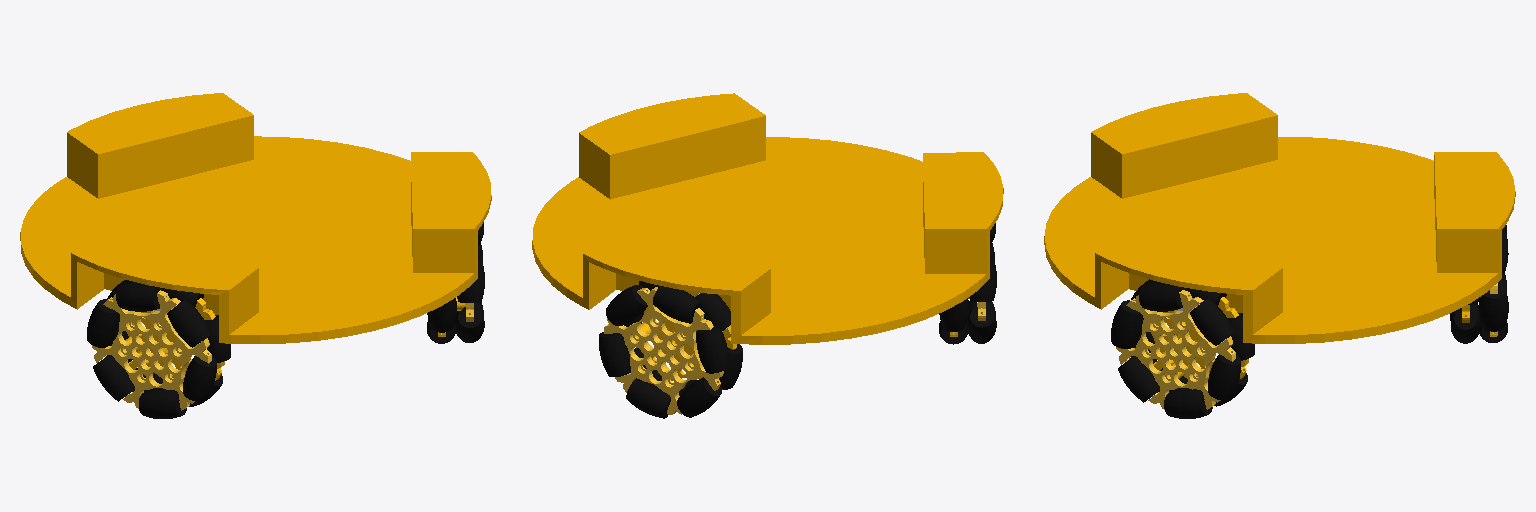
--- Render facts (derived) ---
3 views of the same robot in one strip: view 1: azimuth 30°, elevation 25°; view 2: azimuth 150°, elevation 25°; view 3: azimuth 270°, elevation 25° (orthographic).
Model omnibot with 43 links and 42 joints (39 revolute, 3 fixed), rooted at base, posed all joints at 0.
Links seen in each view (by area): view 1: base, wheel_3, roller_32, roller_29, roller_33, roller_35, roller_34, roller_31, roller_3, roller_4, roller_36, roller_5; view 2: base, wheel_2, roller_23, roller_22, roller_17, roller_19, roller_21, roller_24, roller_13, roller_34, roller_26, roller_15 (+1 smaller); view 3: base, wheel, roller_8, roller_11, roller_12, roller_5, roller_3, roller_7, roller_19, roller_18, roller_10.
Boxes of the visible links, left/top/right/bottom form: base: left=20, top=93, right=491, bottom=343; wheel_3: left=92, top=290, right=224, bottom=410; roller_32: left=167, top=299, right=210, bottom=347; roller_29: left=183, top=356, right=216, bottom=401; roller_33: left=139, top=389, right=186, bottom=418; roller_35: left=87, top=299, right=119, bottom=347; roller_34: left=93, top=355, right=134, bottom=401; roller_31: left=116, top=282, right=164, bottom=311; roller_3: left=455, top=307, right=484, bottom=342; roller_4: left=427, top=298, right=456, bottom=332; roller_36: left=200, top=315, right=230, bottom=362; roller_5: left=457, top=257, right=484, bottom=302; base: left=532, top=93, right=1003, bottom=344; wheel_2: left=604, top=287, right=736, bottom=414; roller_23: left=696, top=325, right=728, bottom=373; roller_22: left=653, top=286, right=701, bottom=323; roller_17: left=626, top=379, right=670, bottom=418; roller_19: left=599, top=332, right=630, bottom=376; roller_21: left=606, top=285, right=647, bottom=325; roller_24: left=677, top=377, right=721, bottom=417; roller_13: left=695, top=293, right=730, bottom=330; roller_34: left=967, top=307, right=996, bottom=343; roller_26: left=939, top=298, right=968, bottom=331; roller_15: left=719, top=344, right=742, bottom=389; base: left=1044, top=93, right=1515, bottom=343; wheel: left=1116, top=290, right=1248, bottom=409; roller_8: left=1190, top=298, right=1233, bottom=345; roller_11: left=1208, top=354, right=1240, bottom=399; roller_12: left=1164, top=389, right=1212, bottom=418; roller_5: left=1111, top=300, right=1143, bottom=348; roller_3: left=1118, top=356, right=1159, bottom=402; roller_7: left=1139, top=282, right=1186, bottom=311; roller_19: left=1479, top=284, right=1508, bottom=331; roller_18: left=1451, top=308, right=1480, bottom=343; roller_10: left=1228, top=313, right=1254, bottom=360.
Bounding box of the posed robot: 0.2395 × 0.24 × 0.0824 m (x, y, z).
88 mesh visuals loaded from 7 distinct referenced files (7 binary STL).

The robot description file, URDF, robot "omnibot":
<robot name="omnibot">
    <link name="base">
        <visual>
            <origin xyz="0 0 0" rpy="0 -0 0" />
            <geometry>
                <mesh filename="package://omnibot_description/urdf/base.stl"/>
            </geometry>
            <material name="base_material">
                <color rgba="0.98039215686274505668 0.71372549019607844922 0.0039215686274509803377 1.0"/>
            </material>
        </visual>
        <collision>
            <origin xyz="0 0 0" rpy="0 -0 0" />
            <geometry>
                <mesh filename="package://omnibot_description/urdf/base.stl"/>
            </geometry>
        </collision>
        <inertial>
            <origin xyz="5.7125161491566575863e-17 -6.5024821714209305867e-17 0.0080527486487109532082" rpy="0 0 0"/>
            <mass value="0.33121488483749478293" />
            <inertia ixx="0.0012461406422939467261" ixy="0"  ixz="0" iyy="0.0012461406422939458587" iyz="0" izz="0.0024316574431770781976" />
        </inertial>
    </link>

    <link name="motor">
        <visual>
            <origin xyz="7.9043193428368358577e-18 0.015229328657860308205 -0.057370000000000025142" rpy="1.1520632371359762718e-32 2.2226360665914211532e-18 -4.9713570571472892865e-32" />
            <geometry>
                <mesh filename="package://omnibot_description/urdf/part_1.stl"/>
            </geometry>
            <material name="part_1_material">
                <color rgba="0.90196078431372550543 0.91764705882352937127 0.92941176470588238168 1.0"/>
            </material>
        </visual>
        <collision>
            <origin xyz="7.9043193428368358577e-18 0.015229328657860308205 -0.057370000000000025142" rpy="1.1520632371359762718e-32 2.2226360665914211532e-18 -4.9713570571472892865e-32" />
            <geometry>
                <mesh filename="package://omnibot_description/urdf/part_1.stl"/>
            </geometry>
        </collision>
        <inertial>
            <origin xyz="-2.098830552812477813e-06 0.015050377580170262726 -0.02165928006021894392" rpy="0 0 0"/>
            <mass value="0.1286049482749511419" />
            <inertia ixx="4.6506247208995554765e-05" ixy="1.6921131916578413861e-09"  ixz="-3.4608427741392948627e-09" iyy="4.6246527094885937542e-05" iyz="1.0074294037198131716e-06" izz="1.0661244977444005866e-05" />
        </inertial>
    </link>

    <link name="wheel">
        <visual>
            <origin xyz="0.018849292529230034926 -0.025304642924402168114 -0.024199999508976458018" rpy="3.141592653589793116 -4.7644572900755180601e-17 1.8430678811938725481" />
            <geometry>
                <mesh filename="package://omnibot_description/urdf/axys_rod.stl"/>
            </geometry>
            <material name="axys_rod_material">
                <color rgba="0.61568627450980395466 0.81176470588235294379 0.92941176470588238168 1.0"/>
            </material>
        </visual>
        <collision>
            <origin xyz="0.018849292529230034926 -0.025304642924402168114 -0.024199999508976458018" rpy="3.141592653589793116 -4.7644572900755180601e-17 1.8430678811938725481" />
            <geometry>
                <mesh filename="package://omnibot_description/urdf/axys_rod.stl"/>
            </geometry>
        </collision>
        <visual>
            <origin xyz="-0.0029828434134273208028 0.031522754648300330138 -0.00999999706275848943" rpy="2.4614437732346262287e-17 2.1952416273112084314e-17 1.2985250346548160572" />
            <geometry>
                <mesh filename="package://omnibot_description/urdf/axys_rod.stl"/>
            </geometry>
            <material name="axys_rod_material">
                <color rgba="0.61568627450980395466 0.81176470588235294379 0.92941176470588238168 1.0"/>
            </material>
        </visual>
        <collision>
            <origin xyz="-0.0029828434134273208028 0.031522754648300330138 -0.00999999706275848943" rpy="2.4614437732346262287e-17 2.1952416273112084314e-17 1.2985250346548160572" />
            <geometry>
                <mesh filename="package://omnibot_description/urdf/axys_rod.stl"/>
            </geometry>
        </collision>
        <visual>
            <origin xyz="-0.019217739019543406132 -0.025322796751039058916 -0.010000003715208136135" rpy="2.4614437732346262287e-17 2.1952416273112084314e-17 1.2985250346548160572" />
            <geometry>
                <mesh filename="package://omnibot_description/urdf/axys_rod.stl"/>
            </geometry>
            <material name="axys_rod_material">
                <color rgba="0.61568627450980395466 0.81176470588235294379 0.92941176470588238168 1.0"/>
            </material>
        </visual>
        <collision>
            <origin xyz="-0.019217739019543406132 -0.025322796751039058916 -0.010000003715208136135" rpy="2.4614437732346262287e-17 2.1952416273112084314e-17 1.2985250346548160572" />
            <geometry>
                <mesh filename="package://omnibot_description/urdf/axys_rod.stl"/>
            </geometry>
        </collision>
        <visual>
            <origin xyz="-0.025693795923572966544 -0.018315214244011321365 -0.010000001453652943018" rpy="-3.141592653589793116 -1.3043559180657304432e-17 0.25132812119095515602" />
            <geometry>
                <mesh filename="package://omnibot_description/urdf/axys_rod.stl"/>
            </geometry>
            <material name="axys_rod_material">
                <color rgba="0.61568627450980395466 0.81176470588235294379 0.92941176470588238168 1.0"/>
            </material>
        </visual>
        <collision>
            <origin xyz="-0.025693795923572966544 -0.018315214244011321365 -0.010000001453652943018" rpy="-3.141592653589793116 -1.3043559180657304432e-17 0.25132812119095515602" />
            <geometry>
                <mesh filename="package://omnibot_description/urdf/axys_rod.stl"/>
            </geometry>
        </collision>
        <visual>
            <origin xyz="0.028708342606700746474 0.01309387383940342417 -0.024199995144404365388" rpy="3.141592653589793116 -1.3122498566019725294e-16 0.79586976703605860628" />
            <geometry>
                <mesh filename="package://omnibot_description/urdf/axys_rod.stl"/>
            </geometry>
            <material name="axys_rod_material">
                <color rgba="0.61568627450980395466 0.81176470588235294379 0.92941176470588238168 1.0"/>
            </material>
        </visual>
        <collision>
            <origin xyz="0.028708342606700746474 0.01309387383940342417 -0.024199995144404365388" rpy="3.141592653589793116 -1.3122498566019725294e-16 0.79586976703605860628" />
            <geometry>
                <mesh filename="package://omnibot_description/urdf/axys_rod.stl"/>
            </geometry>
        </collision>
        <visual>
            <origin xyz="0.025693839153634077249 -0.01831520409297256527 -0.024199999328582064151" rpy="3.141592653589793116 2.1897413049154641094e-17 -0.25132764401668117316" />
            <geometry>
                <mesh filename="package://omnibot_description/urdf/axys_rod.stl"/>
            </geometry>
            <material name="axys_rod_material">
                <color rgba="0.61568627450980395466 0.81176470588235294379 0.92941176470588238168 1.0"/>
            </material>
        </visual>
        <collision>
            <origin xyz="0.025693839153634077249 -0.01831520409297256527 -0.024199999328582064151" rpy="3.141592653589793116 2.1897413049154641094e-17 -0.25132764401668117316" />
            <geometry>
                <mesh filename="package://omnibot_description/urdf/axys_rod.stl"/>
            </geometry>
        </collision>
        <visual>
            <origin xyz="-1.9642151932730556041e-09 -1.7891382439102956554e-10 -0.022199999809268053386" rpy="-3.141592653589793116 -7.2197123923000667429e-17 1.0471975511965978534" />
            <geometry>
                <mesh filename="package://omnibot_description/urdf/plate2.stl"/>
            </geometry>
            <material name="plate2_material">
                <color rgba="0.98039215686274505668 0.79607843137254896693 0.26274509803921569651 1.0"/>
            </material>
        </visual>
        <!-- Shapes for plate2 -->
        <collision>
            <origin xyz="-1.9642151932730556041e-09 -1.7891382428589131662e-10 -0.024199999809268051693" rpy="-3.141592653589793116 -7.2197123923000667429e-17 1.0471975511965978534" />
            <geometry>
                <cylinder length="0.0030000000000000000625" radius="0.034000000000000002442" />
            </geometry>
        </collision>
        <visual>
            <origin xyz="0.015937773618267953024 0.0042705139175610584701 -0.012000000000003036016" rpy="-3.141592653589793116 1.6962974652580569478e-28 -2.3422611302673121514e-32" />
            <geometry>
                <mesh filename="package://omnibot_description/urdf/spacer.stl"/>
            </geometry>
            <material name="spacer_material">
                <color rgba="1 0.7568627450980391913 0.054901960784313724728 1.0"/>
            </material>
        </visual>
        <collision>
            <origin xyz="0.015937773618267953024 0.0042705139175610584701 -0.012000000000003036016" rpy="-3.141592653589793116 1.6962974652580569478e-28 -2.3422611302673121514e-32" />
            <geometry>
                <mesh filename="package://omnibot_description/urdf/spacer.stl"/>
            </geometry>
        </collision>
        <visual>
            <origin xyz="2.001760042447120469e-11 -1.9338654079413060799e-11 -0.012000000000003147038" rpy="1.9022338643349641804e-17 1.6962974652580569478e-28 -2.3422611302673121514e-32" />
            <geometry>
                <mesh filename="package://omnibot_description/urdf/plate1.stl"/>
            </geometry>
            <material name="plate1_material">
                <color rgba="1 0.7568627450980391913 0.054901960784313724728 1.0"/>
            </material>
        </visual>
        <!-- Shapes for plate1 -->
        <collision>
            <origin xyz="2.001760042447120469e-11 -1.9338654184551312951e-11 -0.010000000000003146997" rpy="1.9022338643349641804e-17 1.6962974652580569478e-28 -2.3422611302673121514e-32" />
            <geometry>
                <cylinder length="0.0030000000000000000625" radius="0.034000000000000002442" />
            </geometry>
        </collision>
        <visual>
            <origin xyz="-0.028790909644556491459 0.013178153068647131124 -0.01000000062226605313" rpy="-3.141592653589793116 7.5788537773920091237e-17 -0.79586931499755342312" />
            <geometry>
                <mesh filename="package://omnibot_description/urdf/axys_rod.stl"/>
            </geometry>
            <material name="axys_rod_material">
                <color rgba="0.61568627450980395466 0.81176470588235294379 0.92941176470588238168 1.0"/>
            </material>
        </visual>
        <collision>
            <origin xyz="-0.028790909644556491459 0.013178153068647131124 -0.01000000062226605313" rpy="-3.141592653589793116 7.5788537773920091237e-17 -0.79586931499755342312" />
            <geometry>
                <mesh filename="package://omnibot_description/urdf/axys_rod.stl"/>
            </geometry>
        </collision>
        <visual>
            <origin xyz="0.02580811602108519856 0.018344566682607629793 -0.010000000481623277926" rpy="3.5691146390301812134e-17 -1.2715429987453172065e-17 0.25132812119095515602" />
            <geometry>
                <mesh filename="package://omnibot_description/urdf/axys_rod.stl"/>
            </geometry>
            <material name="axys_rod_material">
                <color rgba="0.61568627450980395466 0.81176470588235294379 0.92941176470588238168 1.0"/>
            </material>
        </visual>
        <collision>
            <origin xyz="0.02580811602108519856 0.018344566682607629793 -0.010000000481623277926" rpy="3.5691146390301812134e-17 -1.2715429987453172065e-17 0.25132812119095515602" />
            <geometry>
                <mesh filename="package://omnibot_description/urdf/axys_rod.stl"/>
            </geometry>
        </collision>
        <visual>
            <origin xyz="-0.025693825391882991332 0.018315274927571172092 -0.024199999573447886214" rpy="-2.849706463173791796e-17 2.2225542242358670231e-17 -0.25132764401668117316" />
            <geometry>
                <mesh filename="package://omnibot_description/urdf/axys_rod.stl"/>
            </geometry>
            <material name="axys_rod_material">
                <color rgba="0.61568627450980395466 0.81176470588235294379 0.92941176470588238168 1.0"/>
            </material>
        </visual>
        <collision>
            <origin xyz="-0.025693825391882991332 0.018315274927571172092 -0.024199999573447886214" rpy="-2.849706463173791796e-17 2.2225542242358670231e-17 -0.25132764401668117316" />
            <geometry>
                <mesh filename="package://omnibot_description/urdf/axys_rod.stl"/>
            </geometry>
        </collision>
        <visual>
            <origin xyz="-0.015937773364185364722 -0.0042705132347586136771 -0.012000000000003202549" rpy="-3.141592653589793116 1.6962974652580569478e-28 -2.3422611302673121514e-32" />
            <geometry>
                <mesh filename="package://omnibot_description/urdf/spacer.stl"/>
            </geometry>
            <material name="spacer_material">
                <color rgba="1 0.7568627450980391913 0.054901960784313724728 1.0"/>
            </material>
        </visual>
        <collision>
            <origin xyz="-0.015937773364185364722 -0.0042705132347586136771 -0.012000000000003202549" rpy="-3.141592653589793116 1.6962974652580569478e-28 -2.3422611302673121514e-32" />
            <geometry>
                <mesh filename="package://omnibot_description/urdf/spacer.stl"/>
            </geometry>
        </collision>
        <visual>
            <origin xyz="0.028790823204502383886 -0.013178235601432183519 -0.010000000285351320906" rpy="5.4374863009449955638e-17 7.5788537773920091237e-17 -0.79586931499755342312" />
            <geometry>
                <mesh filename="package://omnibot_description/urdf/axys_rod.stl"/>
            </geometry>
            <material name="axys_rod_material">
                <color rgba="0.61568627450980395466 0.81176470588235294379 0.92941176470588238168 1.0"/>
            </material>
        </visual>
        <collision>
            <origin xyz="0.028790823204502383886 -0.013178235601432183519 -0.010000000285351320906" rpy="5.4374863009449955638e-17 7.5788537773920091237e-17 -0.79586931499755342312" />
            <geometry>
                <mesh filename="package://omnibot_description/urdf/axys_rod.stl"/>
            </geometry>
        </collision>
        <visual>
            <origin xyz="0.0030145071180058581606 0.031409130275868703264 -0.024199999101464725326" rpy="3.141592653589793116 -4.8957089673571784025e-17 1.843067881193871882" />
            <geometry>
                <mesh filename="package://omnibot_description/urdf/axys_rod.stl"/>
            </geometry>
            <material name="axys_rod_material">
                <color rgba="0.61568627450980395466 0.81176470588235294379 0.92941176470588238168 1.0"/>
            </material>
        </visual>
        <collision>
            <origin xyz="0.0030145071180058581606 0.031409130275868703264 -0.024199999101464725326" rpy="3.141592653589793116 -4.8957089673571784025e-17 1.843067881193871882" />
            <geometry>
                <mesh filename="package://omnibot_description/urdf/axys_rod.stl"/>
            </geometry>
        </collision>
        <visual>
            <origin xyz="-0.028708344080531279785 -0.013093882512642342902 -0.02419999841828643361" rpy="-9.6174079307260302496e-17 -1.3122498566019725294e-16 0.79586976703605860628" />
            <geometry>
                <mesh filename="package://omnibot_description/urdf/axys_rod.stl"/>
            </geometry>
            <material name="axys_rod_material">
                <color rgba="0.61568627450980395466 0.81176470588235294379 0.92941176470588238168 1.0"/>
            </material>
        </visual>
        <collision>
            <origin xyz="-0.028708344080531279785 -0.013093882512642342902 -0.02419999841828643361" rpy="-9.6174079307260302496e-17 -1.3122498566019725294e-16 0.79586976703605860628" />
            <geometry>
                <mesh filename="package://omnibot_description/urdf/axys_rod.stl"/>
            </geometry>
        </collision>
        <inertial>
            <origin xyz="-9.4588917160583760242e-06 -8.8415141495200006669e-06 -0.015131125342708530435" rpy="0 0 0"/>
            <mass value="0.019223052335254620093" />
            <inertia ixx="5.399262953463332839e-06" ixy="-7.3246329002135788826e-08"  ixz="-1.2642889979755781e-09" iyy="5.6557979176500377362e-06" iyz="1.9098649289524068763e-09" izz="8.6846392930505500327e-06" />
        </inertial>
    </link>

    <link name="roller">
        <visual>
            <origin xyz="1.3877787807814456755e-17 1.3877787807814456755e-17 1.7347234759768070944e-18" rpy="8.4604260194624822847e-17 -1.8219368201364345511e-17 1.6366358251416698839e-17" />
            <geometry>
                <mesh filename="package://omnibot_description/urdf/roller.stl"/>
            </geometry>
            <material name="roller_material">
                <color rgba="0.098039215686274508443 0.098039215686274508443 0.098039215686274508443 1.0"/>
            </material>
        </visual>
        <!-- Shapes for roller -->
        <collision>
            <origin xyz="1.3877787807814456755e-17 1.3877787807814456755e-17 1.7347234759768070944e-18" rpy="8.4604260194624822847e-17 -1.8219368201364345511e-17 1.6366358251416698839e-17" />
            <geometry>
                <sphere radius="0.007700000000000000247" />
            </geometry>
        </collision>
        <inertial>
            <origin xyz="4.0756135840652012993e-11 8.4957117072138698775e-11 2.4283850775576134338e-11" rpy="0 0 0"/>
            <mass value="0.0037899803393768708749" />
            <inertia ixx="1.8303635244743848899e-07" ixy="4.2716081106694475295e-16"  ixz="-1.7514569765292920798e-15" iyy="1.830363607521377626e-07" iyz="-3.3429142897629588724e-15" izz="9.8097062080638907831e-08" />
        </inertial>
    </link>

    <joint name="roller2_1" type="revolute">
        <origin xyz="0.020681564833504317152 -0.021119421197575767579 -0.010000000285351307028" rpy="1.570796326794896336 -0.6597090063277464278 2.3457233385922444668" />
        <parent link="wheel" />
        <child link="roller" />
        <axis xyz="0 0 1"/>
        <limit effort="1" velocity="20" />
        <joint_properties friction="0.0"/>
    </joint>

    <link name="roller_2">
        <visual>
            <origin xyz="0 -6.9388939039072283776e-18 3.9031278209478159624e-18" rpy="4.4368715758058417424e-17 2.6090501985764299822e-17 7.8538928552350257608e-17" />
            <geometry>
                <mesh filename="package://omnibot_description/urdf/roller.stl"/>
            </geometry>
            <material name="roller_material">
                <color rgba="0.098039215686274508443 0.098039215686274508443 0.098039215686274508443 1.0"/>
            </material>
        </visual>
        <!-- Shapes for roller -->
        <collision>
            <origin xyz="0 -6.9388939039072283776e-18 3.9031278209478159624e-18" rpy="4.4368715758058417424e-17 2.6090501985764299822e-17 7.8538928552350257608e-17" />
            <geometry>
                <sphere radius="0.007700000000000000247" />
            </geometry>
        </collision>
        <inertial>
            <origin xyz="4.0756121962864192254e-11 8.4957096255456987054e-11 2.4283852943980476078e-11" rpy="0 0 0"/>
            <mass value="0.0037899803393768708749" />
            <inertia ixx="1.8303635244743854193e-07" ixy="4.2716078458527829931e-16"  ixz="-1.751456981042169681e-15" iyy="1.8303636075213770966e-07" iyz="-3.3429143019086877485e-15" izz="9.80970620806389343e-08" />
        </inertial>
    </link>

    <joint name="roller2_2" type="revolute">
        <origin xyz="0.028630754033681701104 0.0073511498047736482941 -0.01000000048162325017" rpy="-1.57079632679489678 -0.95923833802399638415 -2.8902645323988411796" />
        <parent link="wheel" />
        <child link="roller_2" />
        <axis xyz="0 0 1"/>
        <limit effort="1" velocity="20" />
        <joint_properties friction="0.0"/>
    </joint>

    <link name="roller_3">
        <visual>
            <origin xyz="1.3877787807814456755e-17 -1.3877787807814456755e-17 0" rpy="-6.4068643054909384684e-17 1.9741880418348328749e-17 2.3062138514014462605e-17" />
            <geometry>
                <mesh filename="package://omnibot_description/urdf/roller.stl"/>
            </geometry>
            <material name="roller_material">
                <color rgba="0.098039215686274508443 0.098039215686274508443 0.098039215686274508443 1.0"/>
            </material>
        </visual>
        <!-- Shapes for roller -->
        <collision>
            <origin xyz="1.3877787807814456755e-17 -1.3877787807814456755e-17 0" rpy="-6.4068643054909384684e-17 1.9741880418348328749e-17 2.3062138514014462605e-17" />
            <geometry>
                <sphere radius="0.007700000000000000247" />
            </geometry>
        </collision>
        <inertial>
            <origin xyz="4.0756135840652019455e-11 8.4957089316563096071e-11 2.4283849040852648668e-11" rpy="0 0 0"/>
            <mass value="0.0037899803393768708749" />
            <inertia ixx="1.8303635244743854193e-07" ixy="4.2716080627510399541e-16"  ixz="-1.7514569870059841569e-15" iyy="1.8303636075213781554e-07" iyz="-3.3429143193791973637e-15" izz="9.80970620806389343e-08" />
        </inertial>
    </link>

    <joint name="roller2_3" type="revolute">
        <origin xyz="0.020599080645981818899 0.021035055769849139717 -0.024199995144404309877" rpy="1.570796326794896558 -1.0050751734414828942 0.79586976703605405437" />
        <parent link="wheel" />
        <child link="roller_3" />
        <axis xyz="0 0 1"/>
        <limit effort="1" velocity="20" />
        <joint_properties friction="0.0"/>
    </joint>

    <link name="roller_4">
        <visual>
            <origin xyz="1.3877787807814456755e-17 0 -1.7347234759768070944e-18" rpy="-1.7676075678995796423e-17 1.2049021684086540012e-17 -4.6130461232397385939e-18" />
            <geometry>
                <mesh filename="package://omnibot_description/urdf/roller.stl"/>
            </geometry>
            <material name="roller_material">
                <color rgba="0.098039215686274508443 0.098039215686274508443 0.098039215686274508443 1.0"/>
            </material>
        </visual>
        <!-- Shapes for roller -->
        <collision>
            <origin xyz="1.3877787807814456755e-17 0 -1.7347234759768070944e-18" rpy="-1.7676075678995796423e-17 1.2049021684086540012e-17 -4.6130461232397385939e-18" />
            <geometry>
                <sphere radius="0.007700000000000000247" />
            </geometry>
        </collision>
        <inertial>
            <origin xyz="4.0756135840652019455e-11 8.495710319435091681e-11 2.4283847306129175922e-11" rpy="0 0 0"/>
            <mass value="0.0037899803393768708749" />
            <inertia ixx="1.8303635244743854193e-07" ixy="4.271608092272604783e-16"  ixz="-1.751456983106221873e-15" iyy="1.8303636075213792142e-07" iyz="-3.3429143109759634615e-15" izz="9.8097062080638907831e-08" />
        </inertial>
    </link>

    <joint name="roller2_4" type="revolute">
        <origin xyz="0.0079490519369571598085 0.028470515462351391606 -0.00999999706275848943" rpy="1.570796326794896558 1.0765431582887567963 -1.8430676189349801675" />
        <parent link="wheel" />
        <child link="roller_4" />
        <axis xyz="0 0 1"/>
        <limit effort="1" velocity="20" />
        <joint_properties friction="0.0"/>
    </joint>

    <link name="roller_5">
        <visual>
            <origin xyz="-1.3877787807814456755e-17 0 0" rpy="1.7019252966706433505e-18 8.6411508423669180333e-18 -1.3187109991941148993e-17" />
            <geometry>
                <mesh filename="package://omnibot_description/urdf/roller.stl"/>
            </geometry>
            <material name="roller_material">
                <color rgba="0.098039215686274508443 0.098039215686274508443 0.098039215686274508443 1.0"/>
            </material>
        </visual>
        <!-- Shapes for roller -->
        <collision>
            <origin xyz="-1.3877787807814456755e-17 0 0" rpy="1.7019252966706433505e-18 8.6411508423669180333e-18 -1.3187109991941148993e-17" />
            <geometry>
                <sphere radius="0.007700000000000000247" />
            </geometry>
        </collision>
        <inertial>
            <origin xyz="4.0756108085076403826e-11 8.4957103194350890961e-11 2.428384904085265513e-11" rpy="0 0 0"/>
            <mass value="0.0037899803393768708749" />
            <inertia ixx="1.8303635244743854193e-07" ixy="4.2716081044029204016e-16"  ixz="-1.7514569809710087081e-15" iyy="1.830363607521377626e-07" iyz="-3.3429143052953934379e-15" izz="9.80970620806389343e-08" />
        </inertial>
    </link>

    <joint name="roller2_5" type="revolute">
        <origin xyz="-0.0079173874319013633205 0.028356888222933061133 -0.024199999101464753082" rpy="1.57079632679489678 -1.0027977690887008855 1.8430678811938736583" />
        <parent link="wheel" />
        <child link="roller_5" />
        <axis xyz="0 0 1"/>
        <limit effort="1" velocity="20" />
        <joint_properties friction="0.0"/>
    </joint>

    <link name="roller_6">
        <visual>
            <origin xyz="-6.9388939039072283776e-18 1.3877787807814456755e-17 1.7347234759768070944e-18" rpy="-8.4604260194624822847e-17 -1.8219368201364345511e-17 -1.6366358251416698839e-17" />
            <geometry>
                <mesh filename="package://omnibot_description/urdf/roller.stl"/>
            </geometry>
            <material name="roller_material">
                <color rgba="0.098039215686274508443 0.098039215686274508443 0.098039215686274508443 1.0"/>
            </material>
        </visual>
        <!-- Shapes for roller -->
        <collision>
            <origin xyz="-6.9388939039072283776e-18 1.3877787807814456755e-17 1.7347234759768070944e-18" rpy="-8.4604260194624822847e-17 -1.8219368201364345511e-17 -1.6366358251416698839e-17" />
            <geometry>
                <sphere radius="0.007700000000000000247" />
            </geometry>
        </collision>
        <inertial>
            <origin xyz="4.0756115023970301271e-11 8.4957117072138698775e-11 2.4283850775576121413e-11" rpy="0 0 0"/>
            <mass value="0.0037899803393768708749" />
            <inertia ixx="1.8303635244743848899e-07" ixy="4.2716080676782262181e-16"  ixz="-1.7514569765292920798e-15" iyy="1.830363607521377626e-07" iyz="-3.3429143217847628243e-15" izz="9.8097062080638907831e-08" />
        </inertial>
    </link>

    <joint name="roller2_6" type="revolute">
        <origin xyz="-0.020681651273558431664 0.021119338664790682225 -0.010000000622266080885" rpy="1.57079632679489678 0.6597090063277464278 -0.7958693149975488712" />
        <parent link="wheel" />
        <child link="roller_6" />
        <axis xyz="0 0 1"/>
        <limit effort="1" velocity="20" />
        <joint_properties friction="0.0"/>
    </joint>

    <link name="roller_7">
        <visual>
            <origin xyz="0 0 -4.7704895589362195096e-18" rpy="5.7642868478283196294e-17 5.5471936067846187847e-18 -1.4245567939603574315e-17" />
            <geometry>
                <mesh filename="package://omnibot_description/urdf/roller.stl"/>
            </geometry>
            <material name="roller_material">
                <color rgba="0.098039215686274508443 0.098039215686274508443 0.098039215686274508443 1.0"/>
            </material>
        </visual>
        <!-- Shapes for roller -->
        <collision>
            <origin xyz="0 0 -4.7704895589362195096e-18" rpy="5.7642868478283196294e-17 5.5471936067846187847e-18 -1.4245567939603574315e-17" />
            <geometry>
                <sphere radius="0.007700000000000000247" />
            </geometry>
        </collision>
        <inertial>
            <origin xyz="4.0756121962864211641e-11 8.4957103194350890961e-11 2.4283844270363099425e-11" rpy="0 0 0"/>
            <mass value="0.0037899803393768708749" />
            <inertia ixx="1.8303635244743854193e-07" ixy="4.271608046425789332e-16"  ixz="-1.7514569811553552465e-15" iyy="1.830363607521377626e-07" iyz="-3.34291429855321464e-15" izz="9.8097062080638907831e-08" />
        </inertial>
    </link>

    <joint name="roller2_7" type="revolute">
        <origin xyz="-0.028516458158703433812 0.0073218567028481632009 -0.024199999573447886214" rpy="-1.570796326794896558 -0.029118128194412656179 -0.25132764401667873067" />
        <parent link="wheel" />
        <child link="roller_7" />
        <axis xyz="0 0 1"/>
        <limit effort="1" velocity="20" />
        <joint_properties friction="0.0"/>
    </joint>

    <link name="roller_8">
        <visual>
            <origin xyz="-1.3877787807814456755e-17 -6.9388939039072283776e-18 6.9388939039072283776e-18" rpy="-6.4068643054909384684e-17 1.9741880418348328749e-17 2.3062138514014462605e-17" />
            <geometry>
                <mesh filename="package://omnibot_description/urdf/roller.stl"/>
            </geometry>
            <material name="roller_material">
                <color rgba="0.098039215686274508443 0.098039215686274508443 0.098039215686274508443 1.0"/>
            </material>
        </visual>
        <!-- Shapes for roller -->
        <collision>
            <origin xyz="-1.3877787807814456755e-17 -6.9388939039072283776e-18 6.9388939039072283776e-18" rpy="-6.4068643054909384684e-17 1.9741880418348328749e-17 2.3062138514014462605e-17" />
            <geometry>
                <sphere radius="0.007700000000000000247" />
            </geometry>
        </collision>
        <inertial>
            <origin xyz="4.0756108085076403826e-11 8.4957096255456999978e-11 2.4283855979746552575e-11" rpy="0 0 0"/>
            <mass value="0.0037899803393768708749" />
            <inertia ixx="1.8303635244743854193e-07" ixy="4.2716080627510399541e-16"  ixz="-1.7514569870059841569e-15" iyy="1.8303636075213781554e-07" iyz="-3.3429143193791973637e-15" izz="9.80970620806389343e-08" />
        </inertial>
    </link>

    <joint name="roller2_8" type="revolute">
        <origin xyz="-0.02059908211981235221 -0.021035064443088044572 -0.02419999841828643361" rpy="1.570796326794896558 -1.0050751734414828942 0.79586976703605405437" />
        <parent link="wheel" />
        <child link="roller_8" />
        <axis xyz="0 0 1"/>
        <limit effort="1" velocity="20" />
        <joint_properties friction="0.0"/>
    </joint>

    <link name="roller_9">
        <visual>
            <origin xyz="1.3877787807814456755e-17 1.3877787807814456755e-17 -8.6736173798840354721e-19" rpy="-2.2776860711251902308e-17 -3.2825902441946524091e-17 -2.292842158329127773e-17" />
            <geometry>
                <mesh filename="package://omnibot_description/urdf/roller.stl"/>
            </geometry>
            <material name="roller_material">
                <color rgba="0.098039215686274508443 0.098039215686274508443 0.098039215686274508443 1.0"/>
            </material>
        </visual>
        <!-- Shapes for roller -->
        <collision>
            <origin xyz="1.3877787807814456755e-17 1.3877787807814456755e-17 -8.6736173798840354721e-19" rpy="-2.2776860711251902308e-17 -3.2825902441946524091e-17 -2.292842158329127773e-17" />
            <geometry>
                <sphere radius="0.007700000000000000247" />
            </geometry>
        </collision>
        <inertial>
            <origin xyz="4.0756135840652000068e-11 8.4957117072138698775e-11 2.4283848173490913911e-11" rpy="0 0 0"/>
            <mass value="0.0037899803393768708749" />
            <inertia ixx="1.8303635244743854193e-07" ixy="4.2716076907875811034e-16"  ixz="-1.7514569754125442947e-15" iyy="1.830363607521377626e-07" iyz="-3.3429143098803315108e-15" izz="9.80970620806389343e-08" />
        </inertial>
    </link>

    <joint name="roller2_9" type="revolute">
        <origin xyz="-0.028516433936169462149 -0.0073217973661773502747 -0.010000001453652984651" rpy="-1.570796326794896558 -0.95923833802399638415 -2.8902645323988411796" />
        <parent link="wheel" />
        <child link="roller_9" />
        <axis xyz="0 0 1"/>
        <limit effort="1" velocity="20" />
        <joint_properties friction="0.0"/>
    </joint>

    <link name="roller_10">
        <visual>
            <origin xyz="2.7755575615628913511e-17 -6.9388939039072283776e-18 0" rpy="-1.7676075678995796423e-17 1.2049021684086540012e-17 -4.6130461232397385939e-18" />
            <geometry>
                <mesh filename="package://omnibot_description/urdf/roller.stl"/>
            </geometry>
            <material name="roller_material">
                <color rgba="0.098039215686274508443 0.098039215686274508443 0.098039215686274508443 1.0"/>
            </material>
        </visual>
        <!-- Shapes for roller -->
        <collision>
            <origin xyz="2.7755575615628913511e-17 -6.9388939039072283776e-18 0" rpy="-1.7676075678995796423e-17 1.2049021684086540012e-17 -4.6130461232397385939e-18" />
            <geometry>
                <sphere radius="0.007700000000000000247" />
            </geometry>
        </collision>
        <inertial>
            <origin xyz="4.075614971843982727e-11 8.4957096255457012903e-11 2.4283849040852651899e-11" rpy="0 0 0"/>
            <mass value="0.0037899803393768708749" />
            <inertia ixx="1.8303635244743854193e-07" ixy="4.271608092272604783e-16"  ixz="-1.751456983106221873e-15" iyy="1.8303636075213792142e-07" iyz="-3.3429143109759634615e-15" izz="9.8097062080638907831e-08" />
        </inertial>
    </link>

    <joint name="roller2_10" type="revolute">
        <origin xyz="-0.0082858436691589446021 -0.028375035936988014795 -0.010000003715208150012" rpy="1.570796326794896558 1.0765431582887567963 -1.8430676189349801675" />
        <parent link="wheel" />
        <child link="roller_10" />
        <axis xyz="0 0 1"/>
        <limit effort="1" velocity="20" />
        <joint_properties friction="0.0"/>
    </joint>

    <link name="roller_11">
        <visual>
            <origin xyz="1.3877787807814456755e-17 6.9388939039072283776e-18 3.4694469519536141888e-18" rpy="-5.896634328144456999e-17 -1.0144966984938724273e-17 -8.8020282851431897244e-18" />
            <geometry>
                <mesh filename="package://omnibot_description/urdf/roller.stl"/>
            </geometry>
            <material name="roller_material">
                <color rgba="0.098039215686274508443 0.098039215686274508443 0.098039215686274508443 1.0"/>
            </material>
        </visual>
        <!-- Shapes for roller -->
        <collision>
            <origin xyz="1.3877787807814456755e-17 6.9388939039072283776e-18 3.4694469519536141888e-18" rpy="-5.896634328144456999e-17 -1.0144966984938724273e-17 -8.8020282851431897244e-18" />
            <geometry>
                <sphere radius="0.007700000000000000247" />
            </geometry>
        </collision>
        <inertial>
            <origin xyz="4.0756135840652019455e-11 8.4957110133244794868e-11 2.4283852510299600621e-11" rpy="0 0 0"/>
            <mass value="0.0037899803393768708749" />
            <inertia ixx="1.8303635244743854193e-07" ixy="4.2716080561380086318e-16"  ixz="-1.7514569822298226508e-15" iyy="1.830363607521377626e-07" iyz="-3.342914316635861385e-15" izz="9.80970620806389343e-08" />
        </inertial>
    </link>

    <joint name="roller2_11" type="revolute">
        <origin xyz="0.0079173979793228238533 -0.028356884977337862286 -0.024199999508976485774" rpy="1.570796326794896558 1.0027977690887006634 -1.2985247723959187915" />
        <parent link="wheel" />
        <child link="roller_11" />
        <axis xyz="0 0 1"/>
        <limit effort="1" velocity="20" />
        <joint_properties friction="0.0"/>
    </joint>

    <link name="roller_12">
        <visual>
            <origin xyz="6.9388939039072283776e-18 0 4.336808689942017736e-18" rpy="-8.7335640646425253836e-17 -2.0296175043529748205e-17 2.7316262322877970588e-17" />
            <geometry>
                <mesh filename="package://omnibot_description/urdf/roller.stl"/>
            </geometry>
            <material name="roller_material">
                <color rgba="0.098039215686274508443 0.098039215686274508443 0.098039215686274508443 1.0"/>
            </material>
        </visual>
        <!-- Shapes for roller -->
        <collision>
            <origin xyz="6.9388939039072283776e-18 0 4.336808689942017736e-18" rpy="-8.7335640646425253836e-17 -2.0296175043529748205e-17 2.7316262322877970588e-17" />
            <geometry>
                <sphere radius="0.007700000000000000247" />
            </geometry>
        </collision>
        <inertial>
            <origin xyz="4.0756128901758115548e-11 8.4957103194350903886e-11 2.428385337766133861e-11" rpy="0 0 0"/>
            <mass value="0.0037899803393768708749" />
            <inertia ixx="1.8303635244743854193e-07" ixy="4.2716081815891749243e-16"  ixz="-1.7514569816829783549e-15" iyy="1.8303636075213781554e-07" iyz="-3.3429143248306135495e-15" izz="9.80970620806389343e-08" />
        </inertial>
    </link>

    <joint name="roller2_12" type="revolute">
        <origin xyz="0.028516471920454564831 -0.0073217858682495711234 -0.024199999328582064151" rpy="-1.570796326794896558 -0.029118128194412718629 -0.25132764401667873067" />
        <parent link="wheel" />
        <child link="roller_12" />
        <axis xyz="0 0 1"/>
        <limit effort="1" velocity="20" />
        <joint_properties friction="0.0"/>
    </joint>

    <joint name="wheel2" type="revolute">
        <origin xyz="1.6916223843148240913e-18 0.015229328657860304735 2.999999999994673594e-05" rpy="3.141592653589793116 -3.460379863012290867e-16 1.570796326794896558" />
        <parent link="motor" />
        <child link="wheel" />
        <axis xyz="0 0 1"/>
        <limit effort="1" velocity="20" />
        <joint_properties friction="0.0"/>
    </joint>

    <joint name="motor1" type="fixed">
        <origin xyz="0.073581777378123131017 -0.041158680771919600727 2.6020852139652106416e-17" rpy="-1.570796326794896336 -1.660721004497953203e-16 -2.0807970750313837804" />
        <parent link="base" />
        <child link="motor" />
        <axis xyz="0 0 1"/>
        <limit effort="1" velocity="20" />
        <joint_properties friction="0.0"/>
    </joint>

    <link name="motor_2">
        <visual>
            <origin xyz="-4.0834403682039520383e-19 0.015229328657860308205 -0.057370000000000032081" rpy="0 -1.9568663227028638094e-18 0" />
            <geometry>
                <mesh filename="package://omnibot_description/urdf/part_1.stl"/>
            </geometry>
            <material name="part_1_material">
                <color rgba="0.90196078431372550543 0.91764705882352937127 0.92941176470588238168 1.0"/>
            </material>
        </visual>
        <collision>
            <origin xyz="-4.0834403682039520383e-19 0.015229328657860308205 -0.057370000000000032081" rpy="0 -1.9568663227028638094e-18 0" />
            <geometry>
                <mesh filename="package://omnibot_description/urdf/part_1.stl"/>
            </geometry>
        </collision>
        <inertial>
            <origin xyz="-2.0988305528217147073e-06 0.015050377580170262726 -0.021659280060218950859" rpy="0 0 0"/>
            <mass value="0.1286049482749511419" />
            <inertia ixx="4.6506247208995541212e-05" ixy="1.6921131916578151231e-09"  ixz="-3.4608427741393759264e-09" iyy="4.6246527094885937542e-05" iyz="1.0074294037198131716e-06" izz="1.0661244977444005866e-05" />
        </inertial>
    </link>

    <link name="wheel_2">
        <visual>
            <origin xyz="0.018849292529232342108 -0.025304642924407171056 -0.024199999508977207419" rpy="3.1415926535897824579 2.4975157029890339545e-14 1.8430678811939182893" />
            <geometry>
                <mesh filename="package://omnibot_description/urdf/axys_rod.stl"/>
            </geometry>
            <material name="axys_rod_material">
                <color rgba="0.61568627450980395466 0.81176470588235294379 0.92941176470588238168 1.0"/>
            </material>
        </visual>
        <collision>
            <origin xyz="0.018849292529232342108 -0.025304642924407171056 -0.024199999508977207419" rpy="3.1415926535897824579 2.4975157029890339545e-14 1.8430678811939182893" />
            <geometry>
                <mesh filename="package://omnibot_description/urdf/axys_rod.stl"/>
            </geometry>
        </collision>
        <visual>
            <origin xyz="-0.0029828434134281061989 0.031522754648305895131 -0.0099999970627596551642" rpy="4.2008548985063396812e-14 -5.1841994795787341209e-14 1.2985250346548573575" />
            <geometry>
                <mesh filename="package://omnibot_description/urdf/axys_rod.stl"/>
            </geometry>
            <material name="axys_rod_material">
                <color rgba="0.61568627450980395466 0.81176470588235294379 0.92941176470588238168 1.0"/>
            </material>
        </visual>
        <collision>
            <origin xyz="-0.0029828434134281061989 0.031522754648305895131 -0.0099999970627596551642" rpy="4.2008548985063396812e-14 -5.1841994795787341209e-14 1.2985250346548573575" />
            <geometry>
                <mesh filename="package://omnibot_description/urdf/axys_rod.stl"/>
            </geometry>
        </collision>
        <visual>
            <origin xyz="-0.019217739019544832074 -0.025322796751043246538 -0.010000003715206873256" rpy="4.2008548985063396812e-14 -5.1841994795787341209e-14 1.2985250346548573575" />
            <geometry>
                <mesh filename="package://omnibot_description/urdf/axys_rod.stl"/>
            </geometry>
            <material name="axys_rod_material">
                <color rgba="0.61568627450980395466 0.81176470588235294379 0.92941176470588238168 1.0"/>
            </material>
        </visual>
        <collision>
            <origin xyz="-0.019217739019544832074 -0.025322796751043246538 -0.010000003715206873256" rpy="4.2008548985063396812e-14 -5.1841994795787341209e-14 1.2985250346548573575" />
            <geometry>
                <mesh filename="package://omnibot_description/urdf/axys_rod.stl"/>
            </geometry>
        </collision>
        <visual>
            <origin xyz="-0.025693795923575037804 -0.018315214244014266926 -0.01000000145365198545" rpy="3.141592653589628803 1.323052793671451623e-14 0.25132812119096081815" />
            <geometry>
                <mesh filename="package://omnibot_description/urdf/axys_rod.stl"/>
            </geometry>
            <material name="axys_rod_material">
                <color rgba="0.61568627450980395466 0.81176470588235294379 0.92941176470588238168 1.0"/>
            </material>
        </visual>
        <collision>
            <origin xyz="-0.025693795923575037804 -0.018315214244014266926 -0.01000000145365198545" rpy="3.141592653589628803 1.323052793671451623e-14 0.25132812119096081815" />
            <geometry>
                <mesh filename="package://omnibot_description/urdf/axys_rod.stl"/>
            </geometry>
        </collision>
        <visual>
            <origin xyz="0.028708342606703379785 0.013093873839405009707 -0.024199995144406571956" rpy="3.141592653589708739 5.5072761469850945214e-14 0.79586976703608003358" />
            <geometry>
                <mesh filename="package://omnibot_description/urdf/axys_rod.stl"/>
            </geometry>
            <material name="axys_rod_material">
                <color rgba="0.61568627450980395466 0.81176470588235294379 0.92941176470588238168 1.0"/>
            </material>
        </visual>
        <collision>
            <origin xyz="0.028708342606703379785 0.013093873839405009707 -0.024199995144406571956" rpy="3.141592653589708739 5.5072761469850945214e-14 0.79586976703608003358" />
            <geometry>
                <mesh filename="package://omnibot_description/urdf/axys_rod.stl"/>
            </geometry>
        </collision>
        <visual>
            <origin xyz="0.025693839153636922196 -0.018315204092976419825 -0.024199999328582841307" rpy="3.1415926535896376848 -6.0602781200459059868e-14 -0.25132764401669138721" />
            <geometry>
                <mesh filename="package://omnibot_description/urdf/axys_rod.stl"/>
            </geometry>
            <material name="axys_rod_material">
                <color rgba="0.61568627450980395466 0.81176470588235294379 0.92941176470588238168 1.0"/>
            </material>
        </visual>
        <collision>
            <origin xyz="0.025693839153636922196 -0.018315204092976419825 -0.024199999328582841307" rpy="3.1415926535896376848 -6.0602781200459059868e-14 -0.25132764401669138721" />
            <geometry>
                <mesh filename="package://omnibot_description/urdf/axys_rod.stl"/>
            </geometry>
        </collision>
        <visual>
            <origin xyz="-1.964215067004160091e-09 -1.7891429830718674765e-10 -0.022199999809269455042" rpy="3.1415926535897229499 7.4942515224149867956e-14 1.0471975511966264971" />
            <geometry>
                <mesh filename="package://omnibot_description/urdf/plate2.stl"/>
            </geometry>
            <material name="plate2_material">
                <color rgba="0.98039215686274505668 0.79607843137254896693 0.26274509803921569651 1.0"/>
            </material>
        </visual>
        <!-- Shapes for plate2 -->
        <collision>
            <origin xyz="-1.9642150199087717088e-09 -1.7891449832634449534e-10 -0.024199999809269456819" rpy="3.1415926535897229499 7.4942515224149867956e-14 1.0471975511966264971" />
            <geometry>
                <cylinder length="0.0030000000000000000625" radius="0.034000000000000002442" />
            </geometry>
        </collision>
        <visual>
            <origin xyz="0.015937773618269389375 0.0042705139175617454206 -0.012000000000003174794" rpy="3.1415926535896292471 -2.3444515713653181886e-14 -2.2147947750392495488e-15" />
            <geometry>
                <mesh filename="package://omnibot_description/urdf/spacer.stl"/>
            </geometry>
            <material name="spacer_material">
                <color rgba="1 0.7568627450980391913 0.054901960784313724728 1.0"/>
            </material>
        </visual>
        <collision>
            <origin xyz="0.015937773618269389375 0.0042705139175617454206 -0.012000000000003174794" rpy="3.1415926535896292471 -2.3444515713653181886e-14 -2.2147947750392495488e-15" />
            <geometry>
                <mesh filename="package://omnibot_description/urdf/spacer.stl"/>
            </geometry>
        </collision>
        <visual>
            <origin xyz="2.0017600573549003407e-11 -1.9338659146272973999e-11 -0.012000000000003147038" rpy="-8.0975201453402400743e-21 -1.8949663385004863385e-18 -1.3571789178431508351e-18" />
            <geometry>
                <mesh filename="package://omnibot_description/urdf/plate1.stl"/>
            </geometry>
            <material name="plate1_material">
                <color rgba="1 0.7568627450980391913 0.054901960784313724728 1.0"/>
            </material>
        </visual>
        <!-- Shapes for plate1 -->
        <collision>
            <origin xyz="2.0017600577621821023e-11 -1.9338659146267797658e-11 -0.010000000000003146997" rpy="-8.0975201453402400743e-21 -1.8949663385004863385e-18 -1.3571789178431508351e-18" />
            <geometry>
                <cylinder length="0.0030000000000000000625" radius="0.034000000000000002442" />
            </geometry>
        </collision>
        <visual>
            <origin xyz="-0.028790909644559475183 0.013178153068649570145 -0.010000000622266511097" rpy="3.1415926535896803173 -1.2723043315105820041e-13 -0.79586931499758128972" />
            <geometry>
                <mesh filename="package://omnibot_description/urdf/axys_rod.stl"/>
            </geometry>
            <material name="axys_rod_material">
                <color rgba="0.61568627450980395466 0.81176470588235294379 0.92941176470588238168 1.0"/>
            </material>
        </visual>
        <collision>
            <origin xyz="-0.028790909644559475183 0.013178153068649570145 -0.010000000622266511097" rpy="3.1415926535896803173 -1.2723043315105820041e-13 -0.79586931499758128972" />
            <geometry>
                <mesh filename="package://omnibot_description/urdf/axys_rod.stl"/>
            </geometry>
        </collision>
        <visual>
            <origin xyz="0.025808116021087221248 0.018344566682610804337 -0.010000000481623472215" rpy="1.4717752522695077532e-15 -2.3269174378083599674e-17 0.25132812119096276104" />
            <geometry>
                <mesh filename="package://omnibot_description/urdf/axys_rod.stl"/>
            </geometry>
            <material name="axys_rod_material">
                <color rgba="0.61568627450980395466 0.81176470588235294379 0.92941176470588238168 1.0"/>
            </material>
        </visual>
        <collision>
            <origin xyz="0.025808116021087221248 0.018344566682610804337 -0.010000000481623472215" rpy="1.4717752522695077532e-15 -2.3269174378083599674e-17 0.25132812119096276104" />
            <geometry>
                <mesh filename="package://omnibot_description/urdf/axys_rod.stl"/>
            </geometry>
        </collision>
        <visual>
            <origin xyz="-0.025693825391885621173 0.018315274927573715197 -0.02419999957345080055" rpy="-4.0037006727892683257e-16 -5.5047058924669506872e-16 -0.25132764401668966636" />
            <geometry>
                <mesh filename="package://omnibot_description/urdf/axys_rod.stl"/>
            </geometry>
            <material name="axys_rod_material">
                <color rgba="0.61568627450980395466 0.81176470588235294379 0.92941176470588238168 1.0"/>
            </material>
        </visual>
        <collision>
            <origin xyz="-0.025693825391885621173 0.018315274927573715197 -0.02419999957345080055" rpy="-4.0037006727892683257e-16 -5.5047058924669506872e-16 -0.25132764401668966636" />
            <geometry>
                <mesh filename="package://omnibot_description/urdf/axys_rod.stl"/>
            </geometry>
        </collision>
        <visual>
            <origin xyz="-0.015937773364186821889 -0.0042705132347593648123 -0.01200000000000313316" rpy="3.1415926535896292471 -2.3444515713653181886e-14 -2.2147947750392495488e-15" />
            <geometry>
                <mesh filename="package://omnibot_description/urdf/spacer.stl"/>
            </geometry>
            <material name="spacer_material">
                <color rgba="1 0.7568627450980391913 0.054901960784313724728 1.0"/>
            </material>
        </visual>
        <collision>
            <origin xyz="-0.015937773364186821889 -0.0042705132347593648123 -0.01200000000000313316" rpy="3.1415926535896292471 -2.3444515713653181886e-14 -2.2147947750392495488e-15" />
            <geometry>
                <mesh filename="package://omnibot_description/urdf/spacer.stl"/>
            </geometry>
        </collision>
        <visual>
            <origin xyz="0.028790823204505270466 -0.013178235601434447333 -0.010000000285350058027" rpy="-4.2898894479494871054e-15 -4.681811561625178854e-15 -0.79586931499757906927" />
            <geometry>
                <mesh filename="package://omnibot_description/urdf/axys_rod.stl"/>
            </geometry>
            <material name="axys_rod_material">
                <color rgba="0.61568627450980395466 0.81176470588235294379 0.92941176470588238168 1.0"/>
            </material>
        </visual>
        <collision>
            <origin xyz="0.028790823204505270466 -0.013178235601434447333 -0.010000000285350058027" rpy="-4.2898894479494871054e-15 -4.681811561625178854e-15 -0.79586931499757906927" />
            <geometry>
                <mesh filename="package://omnibot_description/urdf/axys_rod.stl"/>
            </geometry>
        </collision>
        <visual>
            <origin xyz="0.0030145071180057879043 0.031409130275873553551 -0.024199999101467986606" rpy="3.1415926535897829019 2.6543635029429278118e-14 1.8430678811939189554" />
            <geometry>
                <mesh filename="package://omnibot_description/urdf/axys_rod.stl"/>
            </geometry>
            <material name="axys_rod_material">
                <color rgba="0.61568627450980395466 0.81176470588235294379 0.92941176470588238168 1.0"/>
            </material>
        </visual>
        <collision>
            <origin xyz="0.0030145071180057879043 0.031409130275873553551 -0.024199999101467986606" rpy="3.1415926535897829019 2.6543635029429278118e-14 1.8430678811939189554" />
            <geometry>
                <mesh filename="package://omnibot_description/urdf/axys_rod.stl"/>
            </geometry>
        </collision>
        <visual>
            <origin xyz="-0.028708344080533642478 -0.013093882512645066418 -0.0241999984182880018" rpy="5.7941372090396261656e-14 -3.4961474371000560903e-14 0.79586976703608214301" />
            <geometry>
                <mesh filename="package://omnibot_description/urdf/axys_rod.stl"/>
            </geometry>
            <material name="axys_rod_material">
                <color rgba="0.61568627450980395466 0.81176470588235294379 0.92941176470588238168 1.0"/>
            </material>
        </visual>
        <collision>
            <origin xyz="-0.028708344080533642478 -0.013093882512645066418 -0.0241999984182880018" rpy="5.7941372090396261656e-14 -3.4961474371000560903e-14 0.79586976703608214301" />
            <geometry>
                <mesh filename="package://omnibot_description/urdf/axys_rod.stl"/>
            </geometry>
        </collision>
        <inertial>
            <origin xyz="-9.4588917159855837068e-06 -8.8415141497942513005e-06 -0.015131125342709179221" rpy="0 0 0"/>
            <mass value="0.019223052335254620093" />
            <inertia ixx="5.3992629534639384676e-06" ixy="-7.3246329002134650625e-08"  ixz="-1.2642889980049264682e-09" iyy="5.655797917650546803e-06" iyz="1.9098649291001876558e-09" izz="8.6846392930512293531e-06" />
        </inertial>
    </link>

    <link name="roller_13">
        <visual>
            <origin xyz="0 0 1.7347234759768070944e-18" rpy="2.6381075324365411321e-17 -5.7075779819544149807e-19 3.7136266349427270889e-19" />
            <geometry>
                <mesh filename="package://omnibot_description/urdf/roller.stl"/>
            </geometry>
            <material name="roller_material">
                <color rgba="0.098039215686274508443 0.098039215686274508443 0.098039215686274508443 1.0"/>
            </material>
        </visual>
        <!-- Shapes for roller -->
        <collision>
            <origin xyz="0 0 1.7347234759768070944e-18" rpy="2.6381075324365411321e-17 -5.7075779819544149807e-19 3.7136266349427270889e-19" />
            <geometry>
                <sphere radius="0.007700000000000000247" />
            </geometry>
        </collision>
        <inertial>
            <origin xyz="4.0756121962864205179e-11 8.4957103194350890961e-11 2.4283850775576140801e-11" rpy="0 0 0"/>
            <mass value="0.0037899803393768708749" />
            <inertia ixx="1.8303635244743848899e-07" ixy="4.2716080870125931727e-16"  ixz="-1.7514569836935301974e-15" iyy="1.830363607521377626e-07" iyz="-3.3429143047818757542e-15" izz="9.809706208063898724e-08" />
        </inertial>
    </link>

    <joint name="roller1_1" type="revolute">
        <origin xyz="0.020681564833506995565 -0.021119421197577783328 -0.010000000285350016394" rpy="-0.7749270117973218186 1.5707963267948548136 0" />
        <parent link="wheel_2" />
        <child link="roller_13" />
        <axis xyz="0 0 1"/>
        <limit effort="1" velocity="20" />
        <joint_properties friction="0.0"/>
    </joint>

    <link name="roller_14">
        <visual>
            <origin xyz="0 -1.3877787807814456755e-17 -1.7347234759768070944e-18" rpy="-1.1202669234443344491e-18 -1.1834155083362201496e-17 4.8544730945660298507e-18" />
            <geometry>
                <mesh filename="package://omnibot_description/urdf/roller.stl"/>
            </geometry>
            <material name="roller_material">
                <color rgba="0.098039215686274508443 0.098039215686274508443 0.098039215686274508443 1.0"/>
            </material>
        </visual>
        <!-- Shapes for roller -->
        <collision>
            <origin xyz="0 -1.3877787807814456755e-17 -1.7347234759768070944e-18" rpy="-1.1202669234443344491e-18 -1.1834155083362201496e-17 4.8544730945660298507e-18" />
            <geometry>
                <sphere radius="0.007700000000000000247" />
            </geometry>
        </collision>
        <inertial>
            <origin xyz="4.0756121962864211641e-11 8.4957089316563083146e-11 2.4283847306129179153e-11" rpy="0 0 0"/>
            <mass value="0.0037899803393768708749" />
            <inertia ixx="1.8303635244743854193e-07" ixy="4.2716081162000399094e-16"  ixz="-1.7514569764370523491e-15" iyy="1.8303636075213770966e-07" iyz="-3.3429143065183999981e-15" izz="9.80970620806389343e-08" />
        </inertial>
    </link>

    <joint name="roller1_2" type="revolute">
        <origin xyz="-0.0082858436691602352364 -0.028375035936991754859 -0.010000003715207331223" rpy="-1.5707963267948545916 -0.039422984638902945631 1.2985250346548480316" />
        <parent link="wheel_2" />
        <child link="roller_14" />
        <axis xyz="0 0 1"/>
        <limit effort="1" velocity="20" />
        <joint_properties friction="0.0"/>
    </joint>

    <link name="roller_15">
        <visual>
            <origin xyz="-1.3877787807814456755e-17 0 0" rpy="-5.5121975380512306723e-18 3.5354151599519008653e-18 3.3430108168877011178e-17" />
            <geometry>
                <mesh filename="package://omnibot_description/urdf/roller.stl"/>
            </geometry>
            <material name="roller_material">
                <color rgba="0.098039215686274508443 0.098039215686274508443 0.098039215686274508443 1.0"/>
            </material>
        </visual>
        <!-- Shapes for roller -->
        <collision>
            <origin xyz="-1.3877787807814456755e-17 0 0" rpy="-5.5121975380512306723e-18 3.5354151599519008653e-18 3.3430108168877011178e-17" />
            <geometry>
                <sphere radius="0.007700000000000000247" />
            </geometry>
        </collision>
        <inertial>
            <origin xyz="4.0756108085076403826e-11 8.4957103194350890961e-11 2.428384904085265513e-11" rpy="0 0 0"/>
            <mass value="0.0037899803393768708749" />
            <inertia ixx="1.8303635244743848899e-07" ixy="4.2716082681537012459e-16"  ixz="-1.7514569838598017631e-15" iyy="1.830363607521377626e-07" iyz="-3.342914307355667775e-15" izz="9.80970620806389343e-08" />
        </inertial>
    </link>

    <joint name="roller1_3" type="revolute">
        <origin xyz="0.028630754033683800119 0.0073511498047768263076 -0.010000000481623513848" rpy="1.5707963267948983344 0.47506888631432148129 0.2513281211909595414" />
        <parent link="wheel_2" />
        <child link="roller_15" />
        <axis xyz="0 0 1"/>
        <limit effort="1" velocity="20" />
        <joint_properties friction="0.0"/>
    </joint>

    <link name="roller_16">
        <visual>
            <origin xyz="0 -1.3877787807814456755e-17 0" rpy="-1.1202669234443344491e-18 -1.1834155083362201496e-17 4.8544730945660298507e-18" />
            <geometry>
                <mesh filename="package://omnibot_description/urdf/roller.stl"/>
            </geometry>
            <material name="roller_material">
                <color rgba="0.098039215686274508443 0.098039215686274508443 0.098039215686274508443 1.0"/>
            </material>
        </visual>
        <!-- Shapes for roller -->
        <collision>
            <origin xyz="0 -1.3877787807814456755e-17 0" rpy="-1.1202669234443344491e-18 -1.1834155083362201496e-17 4.8544730945660298507e-18" />
            <geometry>
                <sphere radius="0.007700000000000000247" />
            </geometry>
        </collision>
        <inertial>
            <origin xyz="4.0756121962864211641e-11 8.4957089316563083146e-11 2.428384904085265513e-11" rpy="0 0 0"/>
            <mass value="0.0037899803393768708749" />
            <inertia ixx="1.8303635244743854193e-07" ixy="4.2716081162000399094e-16"  ixz="-1.7514569764370523491e-15" iyy="1.8303636075213770966e-07" iyz="-3.3429143065183999981e-15" izz="9.80970620806389343e-08" />
        </inertial>
    </link>

    <joint name="roller1_4" type="revolute">
        <origin xyz="0.0079490519369564867358 0.028470515462357379871 -0.009999997062760127009" rpy="-1.5707963267948545916 -0.039422984638902945631 1.2985250346548480316" />
        <parent link="wheel_2" />
        <child link="roller_16" />
        <axis xyz="0 0 1"/>
        <limit effort="1" velocity="20" />
        <joint_properties friction="0.0"/>
    </joint>

    <link name="roller_17">
        <visual>
            <origin xyz="-6.9388939039072283776e-18 0 -8.6736173798840354721e-19" rpy="-3.6253444694832495679e-18 -6.4300198763429314923e-17 7.5517975809926424682e-18" />
            <geometry>
                <mesh filename="package://omnibot_description/urdf/roller.stl"/>
            </geometry>
            <material name="roller_material">
                <color rgba="0.098039215686274508443 0.098039215686274508443 0.098039215686274508443 1.0"/>
            </material>
        </visual>
        <!-- Shapes for roller -->
        <collision>
            <origin xyz="-6.9388939039072283776e-18 0 -8.6736173798840354721e-19" rpy="-3.6253444694832495679e-18 -6.4300198763429314923e-17 7.5517975809926424682e-18" />
            <geometry>
                <sphere radius="0.007700000000000000247" />
            </geometry>
        </collision>
        <inertial>
            <origin xyz="4.0756115023970307734e-11 8.495710319435091681e-11 2.4283848173490920373e-11" rpy="0 0 0"/>
            <mass value="0.0037899803393768708749" />
            <inertia ixx="1.8303635244743854193e-07" ixy="4.2716081054278646961e-16"  ixz="-1.7514569706762102064e-15" iyy="1.8303636075213792142e-07" iyz="-3.3429143065103835935e-15" izz="9.80970620806389343e-08" />
        </inertial>
    </link>

    <joint name="roller1_5" type="revolute">
        <origin xyz="-0.0079173874319012869927 0.028356888222937384064 -0.024199999101468097629" rpy="-1.5707963267948861219 0.03562903164307405085 -1.2985247723958699417" />
        <parent link="wheel_2" />
        <child link="roller_17" />
        <axis xyz="0 0 1"/>
        <limit effort="1" velocity="20" />
        <joint_properties friction="0.0"/>
    </joint>

    <link name="roller_18">
        <visual>
            <origin xyz="1.7347234759768070944e-18 -1.3877787807814456755e-17 0" rpy="-1.0656737069284046429e-17 -2.4517658101723973321e-17 2.3642205129207112737e-17" />
            <geometry>
                <mesh filename="package://omnibot_description/urdf/roller.stl"/>
            </geometry>
            <material name="roller_material">
                <color rgba="0.098039215686274508443 0.098039215686274508443 0.098039215686274508443 1.0"/>
            </material>
        </visual>
        <!-- Shapes for roller -->
        <collision>
            <origin xyz="1.7347234759768070944e-18 -1.3877787807814456755e-17 0" rpy="-1.0656737069284046429e-17 -2.4517658101723973321e-17 2.3642205129207112737e-17" />
            <geometry>
                <sphere radius="0.007700000000000000247" />
            </geometry>
        </collision>
        <inertial>
            <origin xyz="4.0756123697587681155e-11 8.4957089316563096071e-11 2.428384904085265513e-11" rpy="0 0 0"/>
            <mass value="0.0037899803393768708749" />
            <inertia ixx="1.8303635244743854193e-07" ixy="4.2716080107737462991e-16"  ixz="-1.7514569737809348042e-15" iyy="1.8303636075213781554e-07" iyz="-3.342914309274934803e-15" izz="9.80970620806389343e-08" />
        </inertial>
    </link>

    <joint name="roller1_6" type="revolute">
        <origin xyz="-0.020681651273561196813 0.021119338664792892263 -0.010000000622267801731" rpy="-1.5707963267947777641 -0.32376586976593907385 2.3457233385921831825" />
        <parent link="wheel_2" />
        <child link="roller_18" />
        <axis xyz="0 0 1"/>
        <limit effort="1" velocity="20" />
        <joint_properties friction="0.0"/>
    </joint>

    <link name="roller_19">
        <visual>
            <origin xyz="-1.3877787807814456755e-17 1.3877787807814456755e-17 -1.7347234759768070944e-18" rpy="-7.0809491836362829046e-18 -1.0252765330516707878e-17 -8.282552874394391317e-17" />
            <geometry>
                <mesh filename="package://omnibot_description/urdf/roller.stl"/>
            </geometry>
            <material name="roller_material">
                <color rgba="0.098039215686274508443 0.098039215686274508443 0.098039215686274508443 1.0"/>
            </material>
        </visual>
        <!-- Shapes for roller -->
        <collision>
            <origin xyz="-1.3877787807814456755e-17 1.3877787807814456755e-17 -1.7347234759768070944e-18" rpy="-7.0809491836362829046e-18 -1.0252765330516707878e-17 -8.282552874394391317e-17" />
            <geometry>
                <sphere radius="0.007700000000000000247" />
            </geometry>
        </collision>
        <inertial>
            <origin xyz="4.0756108085076410289e-11 8.49571170721387117e-11 2.4283847306129179153e-11" rpy="0 0 0"/>
            <mass value="0.0037899803393768708749" />
            <inertia ixx="1.8303635244743864781e-07" ixy="4.2716078804164237882e-16"  ixz="-1.7514569845453351031e-15" iyy="1.8303636075213781554e-07" iyz="-3.3429143071976751073e-15" izz="9.80970620806389343e-08" />
        </inertial>
    </link>

    <joint name="roller1_7" type="revolute">
        <origin xyz="-0.028516458158706171205 0.0073218567028507756944 -0.024199999573450814427" rpy="-1.5707963267948970021 -0.49987551737802066176 -0.25132764401668405974" />
        <parent link="wheel_2" />
        <child link="roller_19" />
        <axis xyz="0 0 1"/>
        <limit effort="1" velocity="20" />
        <joint_properties friction="0.0"/>
    </joint>

    <link name="roller_20">
        <visual>
            <origin xyz="1.0408340855860842566e-17 -1.3877787807814456755e-17 0" rpy="5.9922109016072439774e-19 8.635001293765755397e-18 -4.2710620983530114615e-17" />
            <geometry>
                <mesh filename="package://omnibot_description/urdf/roller.stl"/>
            </geometry>
            <material name="roller_material">
                <color rgba="0.098039215686274508443 0.098039215686274508443 0.098039215686274508443 1.0"/>
            </material>
        </visual>
        <!-- Shapes for roller -->
        <collision>
            <origin xyz="1.0408340855860842566e-17 -1.3877787807814456755e-17 0" rpy="5.9922109016072439774e-19 8.635001293765755397e-18 -4.2710620983530114615e-17" />
            <geometry>
                <sphere radius="0.007700000000000000247" />
            </geometry>
        </collision>
        <inertial>
            <origin xyz="4.0756132371205054577e-11 8.4957089316563096071e-11 2.428384904085265513e-11" rpy="0 0 0"/>
            <mass value="0.0037899803393768708749" />
            <inertia ixx="1.8303635244743848899e-07" ixy="4.2716079294772454285e-16"  ixz="-1.7514569867289460678e-15" iyy="1.8303636075213781554e-07" iyz="-3.342914303817672369e-15" izz="9.80970620806389343e-08" />
        </inertial>
    </link>

    <joint name="roller1_8" type="revolute">
        <origin xyz="-0.028516433936171599328 -0.0073217973661802958352 -0.010000001453653845074" rpy="1.5707963267947118169 0.475068886313615657 0.25132812119087311054" />
        <parent link="wheel_2" />
        <child link="roller_20" />
        <axis xyz="0 0 1"/>
        <limit effort="1" velocity="20" />
        <joint_properties friction="0.0"/>
    </joint>

    <link name="roller_21">
        <visual>
            <origin xyz="6.9388939039072283776e-18 0 -1.7347234759768070944e-18" rpy="2.1404042137452075338e-17 7.1055133128053132523e-18 -1.7988082966273498118e-17" />
            <geometry>
                <mesh filename="package://omnibot_description/urdf/roller.stl"/>
            </geometry>
            <material name="roller_material">
                <color rgba="0.098039215686274508443 0.098039215686274508443 0.098039215686274508443 1.0"/>
            </material>
        </visual>
        <!-- Shapes for roller -->
        <collision>
            <origin xyz="6.9388939039072283776e-18 0 -1.7347234759768070944e-18" rpy="2.1404042137452075338e-17 7.1055133128053132523e-18 -1.7988082966273498118e-17" />
            <geometry>
                <sphere radius="0.007700000000000000247" />
            </geometry>
        </collision>
        <inertial>
            <origin xyz="4.0756128901758115548e-11 8.4957103194350903886e-11 2.4283847306129179153e-11" rpy="0 0 0"/>
            <mass value="0.0037899803393768708749" />
            <inertia ixx="1.8303635244743848899e-07" ixy="4.2716080905926914657e-16"  ixz="-1.7514569718066853544e-15" iyy="1.8303636075213781554e-07" iyz="-3.3429143091571077771e-15" izz="9.8097062080638907831e-08" />
        </inertial>
    </link>

    <joint name="roller1_9" type="revolute">
        <origin xyz="-0.020599082119814537961 -0.021035064443090573799 -0.024199998418288681812" rpy="-1.5707963267949580644 0.33636312788314187694 -2.3457228865537405049" />
        <parent link="wheel_2" />
        <child link="roller_21" />
        <axis xyz="0 0 1"/>
        <limit effort="1" velocity="20" />
        <joint_properties friction="0.0"/>
    </joint>

    <link name="roller_22">
        <visual>
            <origin xyz="3.4694469519536141888e-18 0 -8.6736173798840354721e-19" rpy="2.4004055127112631687e-18 -1.0459116250148264473e-17 -1.013087807607497131e-17" />
            <geometry>
                <mesh filename="package://omnibot_description/urdf/roller.stl"/>
            </geometry>
            <material name="roller_material">
                <color rgba="0.098039215686274508443 0.098039215686274508443 0.098039215686274508443 1.0"/>
            </material>
        </visual>
        <!-- Shapes for roller -->
        <collision>
            <origin xyz="3.4694469519536141888e-18 0 -8.6736173798840354721e-19" rpy="2.4004055127112631687e-18 -1.0459116250148264473e-17 -1.013087807607497131e-17" />
            <geometry>
                <sphere radius="0.007700000000000000247" />
            </geometry>
        </collision>
        <inertial>
            <origin xyz="4.0756125432311157132e-11 8.495710319435091681e-11 2.4283848173490917142e-11" rpy="0 0 0"/>
            <mass value="0.0037899803393768708749" />
            <inertia ixx="1.8303635244743848899e-07" ixy="4.2716080575711430852e-16"  ixz="-1.7514569793892820481e-15" iyy="1.8303636075213792142e-07" iyz="-3.3429143053301037122e-15" izz="9.80970620806389343e-08" />
        </inertial>
    </link>

    <joint name="roller1_10" type="revolute">
        <origin xyz="0.0079173979793252698134 -0.028356884977343323195 -0.024199999508977318441" rpy="-1.5707963267949074382 -0.035629031643076292113 1.8430678811939233963" />
        <parent link="wheel_2" />
        <child link="roller_22" />
        <axis xyz="0 0 1"/>
        <limit effort="1" velocity="20" />
        <joint_properties friction="0.0"/>
    </joint>

    <link name="roller_23">
        <visual>
            <origin xyz="-3.4694469519536141888e-18 1.3877787807814456755e-17 1.7347234759768070944e-18" rpy="2.7816778514036671498e-18 -3.1491216315564483362e-17 -4.9789190131121355372e-17" />
            <geometry>
                <mesh filename="package://omnibot_description/urdf/roller.stl"/>
            </geometry>
            <material name="roller_material">
                <color rgba="0.098039215686274508443 0.098039215686274508443 0.098039215686274508443 1.0"/>
            </material>
        </visual>
        <!-- Shapes for roller -->
        <collision>
            <origin xyz="-3.4694469519536141888e-18 1.3877787807814456755e-17 1.7347234759768070944e-18" rpy="2.7816778514036671498e-18 -3.1491216315564483362e-17 -4.9789190131121355372e-17" />
            <geometry>
                <sphere radius="0.007700000000000000247" />
            </geometry>
        </collision>
        <inertial>
            <origin xyz="4.075611849341726615e-11 8.49571170721387117e-11 2.4283850775576127876e-11" rpy="0 0 0"/>
            <mass value="0.0037899803393768708749" />
            <inertia ixx="1.8303635244743854193e-07" ixy="4.2716081292559955466e-16"  ixz="-1.7514569738614319459e-15" iyy="1.8303636075213781554e-07" iyz="-3.3429143051088451888e-15" izz="9.8097062080638907831e-08" />
        </inertial>
    </link>

    <joint name="roller1_11" type="revolute">
        <origin xyz="0.028516471920457482636 -0.007321785868253466445 -0.024199999328584589908" rpy="-1.5707963267950737496 -0.49987551737868846091 -0.25132764401660151465" />
        <parent link="wheel_2" />
        <child link="roller_23" />
        <axis xyz="0 0 1"/>
        <limit effort="1" velocity="20" />
        <joint_properties friction="0.0"/>
    </joint>

    <link name="roller_24">
        <visual>
            <origin xyz="4.336808689942017736e-19 -1.3877787807814456755e-17 -1.7347234759768070944e-18" rpy="-1.9247068053441299646e-18 -5.3000383419476060054e-17 -6.0582161742732488833e-18" />
            <geometry>
                <mesh filename="package://omnibot_description/urdf/roller.stl"/>
            </geometry>
            <material name="roller_material">
                <color rgba="0.098039215686274508443 0.098039215686274508443 0.098039215686274508443 1.0"/>
            </material>
        </visual>
        <!-- Shapes for roller -->
        <collision>
            <origin xyz="4.336808689942017736e-19 -1.3877787807814456755e-17 -1.7347234759768070944e-18" rpy="-1.9247068053441299646e-18 -5.3000383419476060054e-17 -6.0582161742732488833e-18" />
            <geometry>
                <sphere radius="0.007700000000000000247" />
            </geometry>
        </collision>
        <inertial>
            <origin xyz="4.0756122396545080635e-11 8.4957089316563083146e-11 2.4283847306129179153e-11" rpy="0 0 0"/>
            <mass value="0.0037899803393768708749" />
            <inertia ixx="1.8303635244743854193e-07" ixy="4.2716080088234898565e-16"  ixz="-1.7514569789260672633e-15" iyy="1.830363607521377626e-07" iyz="-3.342914315767449774e-15" izz="9.8097062080638907831e-08" />
        </inertial>
    </link>

    <joint name="roller1_" type="revolute">
        <origin xyz="0.020599080645984285676 0.021035055769850537905 -0.024199995144407515646" rpy="-1.570796326794807074 0.3363631278837400651 -2.345722886553691211" />
        <parent link="wheel_2" />
        <child link="roller_24" />
        <axis xyz="0 0 1"/>
        <limit effort="1" velocity="20" />
        <joint_properties friction="0.0"/>
    </joint>

    <joint name="wheel1" type="revolute">
        <origin xyz="-3.9587095435201457741e-17 0.015229328657860325552 2.9999999999558157882e-05" rpy="3.141592653589793116 -6.6889720988138117189e-17 -3.1336648471671013638" />
        <parent link="motor_2" />
        <child link="wheel_2" />
        <axis xyz="0 0 1"/>
        <limit effort="1" velocity="20" />
        <joint_properties friction="0.0"/>
    </joint>

    <joint name="motor2" type="fixed">
        <origin xyz="-0.0011464255543250467632 0.084303028851025418877 -1.561251128379126385e-17" rpy="-1.57079632679489678 2.4978401230941900222e-18 0.013598027361811270558" />
        <parent link="base" />
        <child link="motor_2" />
        <axis xyz="0 0 1"/>
        <limit effort="1" velocity="20" />
        <joint_properties friction="0.0"/>
    </joint>

    <link name="motor_3">
        <visual>
            <origin xyz="7.6908859669402865442e-18 0.01522932865786030994 -0.057370000000000004325" rpy="-2.4651903288156618919e-32 -7.8754369550006080045e-17 0" />
            <geometry>
                <mesh filename="package://omnibot_description/urdf/part_1.stl"/>
            </geometry>
            <material name="part_1_material">
                <color rgba="0.90196078431372550543 0.91764705882352937127 0.92941176470588238168 1.0"/>
            </material>
        </visual>
        <collision>
            <origin xyz="7.6908859669402865442e-18 0.01522932865786030994 -0.057370000000000004325" rpy="-2.4651903288156618919e-32 -7.8754369550006080045e-17 0" />
            <geometry>
                <mesh filename="package://omnibot_description/urdf/part_1.stl"/>
            </geometry>
        </collision>
        <inertial>
            <origin xyz="-2.0988305528127929092e-06 0.01505037758017026446 -0.021659280060218923103" rpy="0 0 0"/>
            <mass value="0.1286049482749511419" />
            <inertia ixx="4.6506247208995554765e-05" ixy="1.6921131916578386978e-09"  ixz="-3.4608427741355589014e-09" iyy="4.6246527094885937542e-05" iyz="1.0074294037198131716e-06" izz="1.0661244977444005866e-05" />
        </inertial>
    </link>

    <link name="wheel_3">
        <visual>
            <origin xyz="0.018849292529230045334 -0.02530464292440212648 -0.024199999508976388629" rpy="3.1415926535897922278 -5.9329090903087851725e-16 1.8430678811938723261" />
            <geometry>
                <mesh filename="package://omnibot_description/urdf/axys_rod.stl"/>
            </geometry>
            <material name="axys_rod_material">
                <color rgba="0.61568627450980395466 0.81176470588235294379 0.92941176470588238168 1.0"/>
            </material>
        </visual>
        <collision>
            <origin xyz="0.018849292529230045334 -0.02530464292440212648 -0.024199999508976388629" rpy="3.1415926535897922278 -5.9329090903087851725e-16 1.8430678811938723261" />
            <geometry>
                <mesh filename="package://omnibot_description/urdf/axys_rod.stl"/>
            </geometry>
        </collision>
        <visual>
            <origin xyz="-0.0029828434134273589667 0.031522754648300461977 -0.0099999970627584339189" rpy="2.3919443049460285885e-16 -1.0692622008545688203e-15 1.2985250346548162792" />
            <geometry>
                <mesh filename="package://omnibot_description/urdf/axys_rod.stl"/>
            </geometry>
            <material name="axys_rod_material">
                <color rgba="0.61568627450980395466 0.81176470588235294379 0.92941176470588238168 1.0"/>
            </material>
        </visual>
        <collision>
            <origin xyz="-0.0029828434134273589667 0.031522754648300461977 -0.0099999970627584339189" rpy="2.3919443049460285885e-16 -1.0692622008545688203e-15 1.2985250346548162792" />
            <geometry>
                <mesh filename="package://omnibot_description/urdf/axys_rod.stl"/>
            </geometry>
        </collision>
        <visual>
            <origin xyz="-0.019217739019543454704 -0.025322796751039211571 -0.010000003715208094501" rpy="2.3919443049460285885e-16 -1.0692622008545688203e-15 1.2985250346548162792" />
            <geometry>
                <mesh filename="package://omnibot_description/urdf/axys_rod.stl"/>
            </geometry>
            <material name="axys_rod_material">
                <color rgba="0.61568627450980395466 0.81176470588235294379 0.92941176470588238168 1.0"/>
            </material>
        </visual>
        <collision>
            <origin xyz="-0.019217739019543454704 -0.025322796751039211571 -0.010000003715208094501" rpy="2.3919443049460285885e-16 -1.0692622008545688203e-15 1.2985250346548162792" />
            <geometry>
                <mesh filename="package://omnibot_description/urdf/axys_rod.stl"/>
            </geometry>
        </collision>
        <visual>
            <origin xyz="-0.0256937959235729943 -0.018315214244011369937 -0.010000001453652873629" rpy="-3.1415926535897922278 -5.6242178490559706487e-16 0.25132812119095593317" />
            <geometry>
                <mesh filename="package://omnibot_description/urdf/axys_rod.stl"/>
            </geometry>
            <material name="axys_rod_material">
                <color rgba="0.61568627450980395466 0.81176470588235294379 0.92941176470588238168 1.0"/>
            </material>
        </visual>
        <collision>
            <origin xyz="-0.0256937959235729943 -0.018315214244011369937 -0.010000001453652873629" rpy="-3.1415926535897922278 -5.6242178490559706487e-16 0.25132812119095593317" />
            <geometry>
                <mesh filename="package://omnibot_description/urdf/axys_rod.stl"/>
            </geometry>
        </collision>
        <visual>
            <origin xyz="0.028708342606700673616 0.013093873839403408557 -0.024199995144404323755" rpy="-3.1415926535897926719 -4.0019020663288617633e-16 0.79586976703605805117" />
            <geometry>
                <mesh filename="package://omnibot_description/urdf/axys_rod.stl"/>
            </geometry>
            <material name="axys_rod_material">
                <color rgba="0.61568627450980395466 0.81176470588235294379 0.92941176470588238168 1.0"/>
            </material>
        </visual>
        <collision>
            <origin xyz="0.028708342606700673616 0.013093873839403408557 -0.024199995144404323755" rpy="-3.1415926535897926719 -4.0019020663288617633e-16 0.79586976703605805117" />
            <geometry>
                <mesh filename="package://omnibot_description/urdf/axys_rod.stl"/>
            </geometry>
        </collision>
        <visual>
            <origin xyz="0.025693839153634018269 -0.018315204092972516697 -0.024199999328581897617" rpy="-3.1415926535897926719 2.536147399332963651e-16 -0.25132764401668150622" />
            <geometry>
                <mesh filename="package://omnibot_description/urdf/axys_rod.stl"/>
            </geometry>
            <material name="axys_rod_material">
                <color rgba="0.61568627450980395466 0.81176470588235294379 0.92941176470588238168 1.0"/>
            </material>
        </visual>
        <collision>
            <origin xyz="0.025693839153634018269 -0.018315204092972516697 -0.024199999328581897617" rpy="-3.1415926535897926719 2.536147399332963651e-16 -0.25132764401668150622" />
            <geometry>
                <mesh filename="package://omnibot_description/urdf/axys_rod.stl"/>
            </geometry>
        </collision>
        <visual>
            <origin xyz="-1.9642151837320764862e-09 -1.7891379870682566633e-10 -0.022199999809267817463" rpy="-3.1415926535897926719 -3.5759385660046339317e-16 1.0471975511965982975" />
            <geometry>
                <mesh filename="package://omnibot_description/urdf/plate2.stl"/>
            </geometry>
            <material name="plate2_material">
                <color rgba="0.98039215686274505668 0.79607843137254896693 0.26274509803921569651 1.0"/>
            </material>
        </visual>
        <!-- Shapes for plate2 -->
        <collision>
            <origin xyz="-1.9642151837092111461e-09 -1.7891379861967707062e-10 -0.02419999980926781924" rpy="-3.1415926535897926719 -3.5759385660046339317e-16 1.0471975511965982975" />
            <geometry>
                <cylinder length="0.0030000000000000000625" radius="0.034000000000000002442" />
            </geometry>
        </collision>
        <visual>
            <origin xyz="0.015937773618267953024 0.0042705139175611122465 -0.012000000000002980505" rpy="3.141592653589793116 -7.7644984175797900276e-18 2.454092347805215957e-17" />
            <geometry>
                <mesh filename="package://omnibot_description/urdf/spacer.stl"/>
            </geometry>
            <material name="spacer_material">
                <color rgba="1 0.7568627450980391913 0.054901960784313724728 1.0"/>
            </material>
        </visual>
        <collision>
            <origin xyz="0.015937773618267953024 0.0042705139175611122465 -0.012000000000002980505" rpy="3.141592653589793116 -7.7644984175797900276e-18 2.454092347805215957e-17" />
            <geometry>
                <mesh filename="package://omnibot_description/urdf/spacer.stl"/>
            </geometry>
        </collision>
        <visual>
            <origin xyz="2.0017589148768610841e-11 -1.9338662615719925952e-11 -0.012000000000003160916" rpy="-1.2454419035563118145e-17 -7.7644984175797900276e-18 2.454092347805215957e-17" />
            <geometry>
                <mesh filename="package://omnibot_description/urdf/plate1.stl"/>
            </geometry>
            <material name="plate1_material">
                <color rgba="1 0.7568627450980391913 0.054901960784313724728 1.0"/>
            </material>
        </visual>
        <!-- Shapes for plate1 -->
        <collision>
            <origin xyz="2.0017589125903358e-11 -1.9338662702868524896e-11 -0.010000000000003160874" rpy="-1.2454419035563118145e-17 -7.7644984175797900276e-18 2.454092347805215957e-17" />
            <geometry>
                <cylinder length="0.0030000000000000000625" radius="0.034000000000000002442" />
            </geometry>
        </collision>
        <visual>
            <origin xyz="-0.028790909644556446356 0.01317815306864731327 -0.010000000622265844963" rpy="-3.1415926535897922278 7.2498576146944507703e-16 -0.79586931499755364516" />
            <geometry>
                <mesh filename="package://omnibot_description/urdf/axys_rod.stl"/>
            </geometry>
            <material name="axys_rod_material">
                <color rgba="0.61568627450980395466 0.81176470588235294379 0.92941176470588238168 1.0"/>
            </material>
        </visual>
        <collision>
            <origin xyz="-0.028790909644556446356 0.01317815306864731327 -0.010000000622265844963" rpy="-3.1415926535897922278 7.2498576146944507703e-16 -0.79586931499755364516" />
            <geometry>
                <mesh filename="package://omnibot_description/urdf/axys_rod.stl"/>
            </geometry>
        </collision>
        <visual>
            <origin xyz="0.025808116021085236724 0.018344566682607671426 -0.010000000481623388948" rpy="1.1236260499216621671e-15 -5.6242178490559706487e-16 0.25132812119095593317" />
            <geometry>
                <mesh filename="package://omnibot_description/urdf/axys_rod.stl"/>
            </geometry>
            <material name="axys_rod_material">
                <color rgba="0.61568627450980395466 0.81176470588235294379 0.92941176470588238168 1.0"/>
            </material>
        </visual>
        <collision>
            <origin xyz="0.025808116021085236724 0.018344566682607671426 -0.010000000481623388948" rpy="1.1236260499216621671e-15 -5.6242178490559706487e-16 0.25132812119095593317" />
            <geometry>
                <mesh filename="package://omnibot_description/urdf/axys_rod.stl"/>
            </geometry>
        </collision>
        <visual>
            <origin xyz="-0.025693825391882980924 0.01831527492757106107 -0.024199999573447900092" rpy="6.3352770215469594043e-16 3.1433490143144370466e-16 -0.25132764401668117316" />
            <geometry>
                <mesh filename="package://omnibot_description/urdf/axys_rod.stl"/>
            </geometry>
            <material name="axys_rod_material">
                <color rgba="0.61568627450980395466 0.81176470588235294379 0.92941176470588238168 1.0"/>
            </material>
        </visual>
        <collision>
            <origin xyz="-0.025693825391882980924 0.01831527492757106107 -0.024199999573447900092" rpy="6.3352770215469594043e-16 3.1433490143144370466e-16 -0.25132764401668117316" />
            <geometry>
                <mesh filename="package://omnibot_description/urdf/axys_rod.stl"/>
            </geometry>
        </collision>
        <visual>
            <origin xyz="-0.015937773364185392477 -0.0042705132347587246994 -0.012000000000003285816" rpy="3.141592653589793116 -7.7644984175797900276e-18 2.454092347805215957e-17" />
            <geometry>
                <mesh filename="package://omnibot_description/urdf/spacer.stl"/>
            </geometry>
            <material name="spacer_material">
                <color rgba="1 0.7568627450980391913 0.054901960784313724728 1.0"/>
            </material>
        </visual>
        <collision>
            <origin xyz="-0.015937773364185392477 -0.0042705132347587246994 -0.012000000000003285816" rpy="3.141592653589793116 -7.7644984175797900276e-18 2.454092347805215957e-17" />
            <geometry>
                <mesh filename="package://omnibot_description/urdf/spacer.stl"/>
            </geometry>
        </collision>
        <visual>
            <origin xyz="0.028790823204502415111 -0.01317823560143211066 -0.010000000285351182128" rpy="9.4858016401645068199e-16 7.2498576146944507703e-16 -0.79586931499755364516" />
            <geometry>
                <mesh filename="package://omnibot_description/urdf/axys_rod.stl"/>
            </geometry>
            <material name="axys_rod_material">
                <color rgba="0.61568627450980395466 0.81176470588235294379 0.92941176470588238168 1.0"/>
            </material>
        </visual>
        <collision>
            <origin xyz="0.028790823204502415111 -0.01317823560143211066 -0.010000000285351182128" rpy="9.4858016401645068199e-16 7.2498576146944507703e-16 -0.79586931499755364516" />
            <geometry>
                <mesh filename="package://omnibot_description/urdf/axys_rod.stl"/>
            </geometry>
        </collision>
        <visual>
            <origin xyz="0.003014507118005808721 0.031409130275868862858 -0.024199999101464600426" rpy="3.1415926535897926719 -8.7528312188624444855e-16 1.8430678811938712158" />
            <geometry>
                <mesh filename="package://omnibot_description/urdf/axys_rod.stl"/>
            </geometry>
            <material name="axys_rod_material">
                <color rgba="0.61568627450980395466 0.81176470588235294379 0.92941176470588238168 1.0"/>
            </material>
        </visual>
        <collision>
            <origin xyz="0.003014507118005808721 0.031409130275868862858 -0.024199999101464600426" rpy="3.1415926535897926719 -8.7528312188624444855e-16 1.8430678811938712158" />
            <geometry>
                <mesh filename="package://omnibot_description/urdf/axys_rod.stl"/>
            </geometry>
        </collision>
        <visual>
            <origin xyz="-0.028708344080531238152 -0.013093882512642342902 -0.024199998418286350343" rpy="7.630998749265247437e-16 -4.0019020663288617633e-16 0.79586976703605805117" />
            <geometry>
                <mesh filename="package://omnibot_description/urdf/axys_rod.stl"/>
            </geometry>
            <material name="axys_rod_material">
                <color rgba="0.61568627450980395466 0.81176470588235294379 0.92941176470588238168 1.0"/>
            </material>
        </visual>
        <collision>
            <origin xyz="-0.028708344080531238152 -0.013093882512642342902 -0.024199998418286350343" rpy="7.630998749265247437e-16 -4.0019020663288617633e-16 0.79586976703605805117" />
            <geometry>
                <mesh filename="package://omnibot_description/urdf/axys_rod.stl"/>
            </geometry>
        </collision>
        <inertial>
            <origin xyz="-9.4588917160628263354e-06 -8.8415141495136123444e-06 -0.015131125342708447168" rpy="0 0 0"/>
            <mass value="0.019223052335254620093" />
            <inertia ixx="5.3992629534633116632e-06" ixy="-7.3246329002137853468e-08"  ixz="-1.2642889979757766234e-09" iyy="5.6557979176500123252e-06" iyz="1.9098649289547097471e-09" izz="8.6846392930505551149e-06" />
        </inertial>
    </link>

    <link name="roller_25">
        <visual>
            <origin xyz="0 0 -1.7347234759768070944e-18" rpy="-9.1355942858765001246e-17 1.3086155217874158504e-17 6.338390528770257e-17" />
            <geometry>
                <mesh filename="package://omnibot_description/urdf/roller.stl"/>
            </geometry>
            <material name="roller_material">
                <color rgba="0.098039215686274508443 0.098039215686274508443 0.098039215686274508443 1.0"/>
            </material>
        </visual>
        <!-- Shapes for roller -->
        <collision>
            <origin xyz="0 0 -1.7347234759768070944e-18" rpy="-9.1355942858765001246e-17 1.3086155217874158504e-17 6.338390528770257e-17" />
            <geometry>
                <sphere radius="0.007700000000000000247" />
            </geometry>
        </collision>
        <inertial>
            <origin xyz="4.0756121962864205179e-11 8.4957103194350890961e-11 2.428384730612916946e-11" rpy="0 0 0"/>
            <mass value="0.0037899803393768708749" />
            <inertia ixx="1.8303635244743854193e-07" ixy="4.2716079357302465501e-16"  ixz="-1.7514569717245809086e-15" iyy="1.8303636075213770966e-07" iyz="-3.342914321931132021e-15" izz="9.8097062080638907831e-08" />
        </inertial>
    </link>

    <joint name="roller3_1" type="revolute">
        <origin xyz="-0.020681651273558386561 0.021119338664790876514 -0.010000000622265817207" rpy="1.5707963267948985564 0.98155021618507098946 -0.79586931499755286801" />
        <parent link="wheel_3" />
        <child link="roller_25" />
        <axis xyz="0 0 1"/>
        <limit effort="1" velocity="20" />
        <joint_properties friction="0.0"/>
    </joint>

    <link name="roller_26">
        <visual>
            <origin xyz="-6.9388939039072283776e-18 -2.7755575615628913511e-17 0" rpy="-1.057222307256755754e-17 -9.6822170767443595194e-20 -2.8699459896474235049e-17" />
            <geometry>
                <mesh filename="package://omnibot_description/urdf/roller.stl"/>
            </geometry>
            <material name="roller_material">
                <color rgba="0.098039215686274508443 0.098039215686274508443 0.098039215686274508443 1.0"/>
            </material>
        </visual>
        <!-- Shapes for roller -->
        <collision>
            <origin xyz="-6.9388939039072283776e-18 -2.7755575615628913511e-17 0" rpy="-1.057222307256755754e-17 -9.6822170767443595194e-20 -2.8699459896474235049e-17" />
            <geometry>
                <sphere radius="0.007700000000000000247" />
            </geometry>
        </collision>
        <inertial>
            <origin xyz="4.0756115023970307734e-11 8.4957075438775288257e-11 2.428384904085265513e-11" rpy="0 0 0"/>
            <mass value="0.0037899803393768708749" />
            <inertia ixx="1.8303635244743854193e-07" ixy="4.2716079967822435366e-16"  ixz="-1.751456986937698582e-15" iyy="1.8303636075213781554e-07" iyz="-3.342914309265361187e-15" izz="9.80970620806389343e-08" />
        </inertial>
    </link>

    <joint name="roller3_2" type="revolute">
        <origin xyz="-0.028516433936169503782 -0.0073217973661773650199 -0.010000001453652873629" rpy="1.5707963267948978903 0.12996521041089167947 0.25132812119095521153" />
        <parent link="wheel_3" />
        <child link="roller_26" />
        <axis xyz="0 0 1"/>
        <limit effort="1" velocity="20" />
        <joint_properties friction="0.0"/>
    </joint>

    <link name="roller_27">
        <visual>
            <origin xyz="2.7755575615628913511e-17 0 1.7347234759768070944e-18" rpy="6.8963637520063186898e-17 -1.7210856551687102018e-17 -7.7828747940638303795e-19" />
            <geometry>
                <mesh filename="package://omnibot_description/urdf/roller.stl"/>
            </geometry>
            <material name="roller_material">
                <color rgba="0.098039215686274508443 0.098039215686274508443 0.098039215686274508443 1.0"/>
            </material>
        </visual>
        <!-- Shapes for roller -->
        <collision>
            <origin xyz="2.7755575615628913511e-17 0 1.7347234759768070944e-18" rpy="6.8963637520063186898e-17 -1.7210856551687102018e-17 -7.7828747940638303795e-19" />
            <geometry>
                <sphere radius="0.007700000000000000247" />
            </geometry>
        </collision>
        <inertial>
            <origin xyz="4.075614971843982727e-11 8.4957103194350903886e-11 2.4283850775576134338e-11" rpy="0 0 0"/>
            <mass value="0.0037899803393768708749" />
            <inertia ixx="1.8303635244743854193e-07" ixy="4.2716081215996582063e-16"  ixz="-1.7514569796603926364e-15" iyy="1.8303636075213781554e-07" iyz="-3.3429142860113545272e-15" izz="9.8097062080638907831e-08" />
        </inertial>
    </link>

    <joint name="roller3_3" type="revolute">
        <origin xyz="-0.0082858436691589792966 -0.028375035936988181329 -0.010000003715208094501" rpy="1.5707963267948956698 0.9703739388243279862 -1.8430676189349766148" />
        <parent link="wheel_3" />
        <child link="roller_27" />
        <axis xyz="0 0 1"/>
        <limit effort="1" velocity="20" />
        <joint_properties friction="0.0"/>
    </joint>

    <link name="roller_28">
        <visual>
            <origin xyz="1.3877787807814456755e-17 0 -3.4694469519536141888e-18" rpy="6.8963637520063186898e-17 -1.7210856551687102018e-17 -7.7828747940638303795e-19" />
            <geometry>
                <mesh filename="package://omnibot_description/urdf/roller.stl"/>
            </geometry>
            <material name="roller_material">
                <color rgba="0.098039215686274508443 0.098039215686274508443 0.098039215686274508443 1.0"/>
            </material>
        </visual>
        <!-- Shapes for roller -->
        <collision>
            <origin xyz="1.3877787807814456755e-17 0 -3.4694469519536141888e-18" rpy="6.8963637520063186898e-17 -1.7210856551687102018e-17 -7.7828747940638303795e-19" />
            <geometry>
                <sphere radius="0.007700000000000000247" />
            </geometry>
        </collision>
        <inertial>
            <origin xyz="4.0756135840652019455e-11 8.4957103194350903886e-11 2.4283845571405706408e-11" rpy="0 0 0"/>
            <mass value="0.0037899803393768708749" />
            <inertia ixx="1.8303635244743854193e-07" ixy="4.2716081215996582063e-16"  ixz="-1.7514569796603926364e-15" iyy="1.8303636075213781554e-07" iyz="-3.3429142860113545272e-15" izz="9.8097062080638907831e-08" />
        </inertial>
    </link>

    <joint name="roller3_4" type="revolute">
        <origin xyz="0.0079490519369571285835 0.028470515462351499159 -0.0099999970627584339189" rpy="1.5707963267948956698 0.9703739388243279862 -1.8430676189349766148" />
        <parent link="wheel_3" />
        <child link="roller_28" />
        <axis xyz="0 0 1"/>
        <limit effort="1" velocity="20" />
        <joint_properties friction="0.0"/>
    </joint>

    <link name="roller_29">
        <visual>
            <origin xyz="0 0 5.2041704279304212832e-18" rpy="-5.2006409085214947e-17 -4.1488311595070334227e-17 3.430966771816442121e-17" />
            <geometry>
                <mesh filename="package://omnibot_description/urdf/roller.stl"/>
            </geometry>
            <material name="roller_material">
                <color rgba="0.098039215686274508443 0.098039215686274508443 0.098039215686274508443 1.0"/>
            </material>
        </visual>
        <!-- Shapes for roller -->
        <collision>
            <origin xyz="0 0 5.2041704279304212832e-18" rpy="-5.2006409085214947e-17 -4.1488311595070334227e-17 3.430966771816442121e-17" />
            <geometry>
                <sphere radius="0.007700000000000000247" />
            </geometry>
        </collision>
        <inertial>
            <origin xyz="4.0756121962864218103e-11 8.4957103194350890961e-11 2.4283854245023083061e-11" rpy="0 0 0"/>
            <mass value="0.0037899803393768708749" />
            <inertia ixx="1.8303635244743854193e-07" ixy="4.2716082955247286952e-16"  ixz="-1.7514569771766301553e-15" iyy="1.830363607521377626e-07" iyz="-3.3429143153932035109e-15" izz="9.80970620806389343e-08" />
        </inertial>
    </link>

    <joint name="roller3_5" type="revolute">
        <origin xyz="0.020599080645981773796 0.021035055769849118901 -0.024199995144404254366" rpy="1.5707963267948974462 -0.60012852644593328577 0.7958697670360587173" />
        <parent link="wheel_3" />
        <child link="roller_29" />
        <axis xyz="0 0 1"/>
        <limit effort="1" velocity="20" />
        <joint_properties friction="0.0"/>
    </joint>

    <link name="roller_30">
        <visual>
            <origin xyz="-1.3877787807814456755e-17 1.3877787807814456755e-17 -8.6736173798840354721e-18" rpy="9.1355942858765001246e-17 1.3086155217874158504e-17 -6.338390528770257e-17" />
            <geometry>
                <mesh filename="package://omnibot_description/urdf/roller.stl"/>
            </geometry>
            <material name="roller_material">
                <color rgba="0.098039215686274508443 0.098039215686274508443 0.098039215686274508443 1.0"/>
            </material>
        </visual>
        <!-- Shapes for roller -->
        <collision>
            <origin xyz="-1.3877787807814456755e-17 1.3877787807814456755e-17 -8.6736173798840354721e-18" rpy="9.1355942858765001246e-17 1.3086155217874158504e-17 -6.338390528770257e-17" />
            <geometry>
                <sphere radius="0.007700000000000000247" />
            </geometry>
        </collision>
        <inertial>
            <origin xyz="4.0756108085076423213e-11 8.4957117072138698775e-11 2.4283840367235278477e-11" rpy="0 0 0"/>
            <mass value="0.0037899803393768708749" />
            <inertia ixx="1.8303635244743854193e-07" ixy="4.271608242617420295e-16"  ixz="-1.7514569717245815003e-15" iyy="1.8303636075213770966e-07" iyz="-3.3429142896165888869e-15" izz="9.8097062080638907831e-08" />
        </inertial>
    </link>

    <joint name="roller3_6" type="revolute">
        <origin xyz="0.0206815648335043345 -0.021119421197575691251 -0.010000000285351223761" rpy="1.5707963267948945596 -0.98155021618507098946 2.34572333859224047" />
        <parent link="wheel_3" />
        <child link="roller_30" />
        <axis xyz="0 0 1"/>
        <limit effort="1" velocity="20" />
        <joint_properties friction="0.0"/>
    </joint>

    <link name="roller_31">
        <visual>
            <origin xyz="2.7755575615628913511e-17 0 3.9031278209478159624e-18" rpy="-6.8092232839210934151e-18 -1.027900486430717868e-17 7.3190472780373689684e-17" />
            <geometry>
                <mesh filename="package://omnibot_description/urdf/roller.stl"/>
            </geometry>
            <material name="roller_material">
                <color rgba="0.098039215686274508443 0.098039215686274508443 0.098039215686274508443 1.0"/>
            </material>
        </visual>
        <!-- Shapes for roller -->
        <collision>
            <origin xyz="2.7755575615628913511e-17 0 3.9031278209478159624e-18" rpy="-6.8092232839210934151e-18 -1.027900486430717868e-17 7.3190472780373689684e-17" />
            <geometry>
                <sphere radius="0.007700000000000000247" />
            </geometry>
        </collision>
        <inertial>
            <origin xyz="4.075614971843982727e-11 8.4957103194350903886e-11 2.4283852943980476078e-11" rpy="0 0 0"/>
            <mass value="0.0037899803393768708749" />
            <inertia ixx="1.8303635244743854193e-07" ixy="4.271608159049202163e-16"  ixz="-1.7514569763998979865e-15" iyy="1.8303636075213781554e-07" iyz="-3.3429143054775741587e-15" izz="9.80970620806389343e-08" />
        </inertial>
    </link>

    <joint name="roller3_7" type="revolute">
        <origin xyz="0.0079173979793228238533 -0.028356884977337792897 -0.024199999508976416385" rpy="1.5707963267948983344 1.051990792840859168 -1.2985247723959194577" />
        <parent link="wheel_3" />
        <child link="roller_31" />
        <axis xyz="0 0 1"/>
        <limit effort="1" velocity="20" />
        <joint_properties friction="0.0"/>
    </joint>

    <link name="roller_32">
        <visual>
            <origin xyz="1.3877787807814456755e-17 0 1.7347234759768070944e-18" rpy="-3.4504113418151379288e-19 2.4299479685659417839e-17 3.0637320463894800399e-18" />
            <geometry>
                <mesh filename="package://omnibot_description/urdf/roller.stl"/>
            </geometry>
            <material name="roller_material">
                <color rgba="0.098039215686274508443 0.098039215686274508443 0.098039215686274508443 1.0"/>
            </material>
        </visual>
        <!-- Shapes for roller -->
        <collision>
            <origin xyz="1.3877787807814456755e-17 0 1.7347234759768070944e-18" rpy="-3.4504113418151379288e-19 2.4299479685659417839e-17 3.0637320463894800399e-18" />
            <geometry>
                <sphere radius="0.007700000000000000247" />
            </geometry>
        </collision>
        <inertial>
            <origin xyz="4.0756135840652019455e-11 8.4957103194350890961e-11 2.4283850775576131107e-11" rpy="0 0 0"/>
            <mass value="0.0037899803393768708749" />
            <inertia ixx="1.8303635244743854193e-07" ixy="4.2716080368214507052e-16"  ixz="-1.7514569828898479763e-15" iyy="1.830363607521377626e-07" iyz="-3.3429142941825852261e-15" izz="9.80970620806389343e-08" />
        </inertial>
    </link>

    <joint name="roller3_8" type="revolute">
        <origin xyz="0.028516471920454498912 -0.0073217858682495138775 -0.024199999328581869862" rpy="1.5707963267948952257 0.98120498930390365189 2.8902650095731114988" />
        <parent link="wheel_3" />
        <child link="roller_32" />
        <axis xyz="0 0 1"/>
        <limit effort="1" velocity="20" />
        <joint_properties friction="0.0"/>
    </joint>

    <link name="roller_33">
        <visual>
            <origin xyz="-1.3877787807814456755e-17 0 7.8062556418956319249e-18" rpy="1.9157077653018818515e-17 -4.4373991813381658386e-17 4.019356234047508005e-17" />
            <geometry>
                <mesh filename="package://omnibot_description/urdf/roller.stl"/>
            </geometry>
            <material name="roller_material">
                <color rgba="0.098039215686274508443 0.098039215686274508443 0.098039215686274508443 1.0"/>
            </material>
        </visual>
        <!-- Shapes for roller -->
        <collision>
            <origin xyz="-1.3877787807814456755e-17 0 7.8062556418956319249e-18" rpy="1.9157077653018818515e-17 -4.4373991813381658386e-17 4.019356234047508005e-17" />
            <geometry>
                <sphere radius="0.007700000000000000247" />
            </geometry>
        </collision>
        <inertial>
            <origin xyz="4.0756108085076423213e-11 8.4957103194350890961e-11 2.4283856847108309951e-11" rpy="0 0 0"/>
            <mass value="0.0037899803393768708749" />
            <inertia ixx="1.8303635244743864781e-07" ixy="4.2716083949853341864e-16"  ixz="-1.751456976657343729e-15" iyy="1.830363607521377626e-07" iyz="-3.3429143074584098082e-15" izz="9.809706208063898724e-08" />
        </inertial>
    </link>

    <joint name="roller3_9" type="revolute">
        <origin xyz="-0.0079173874319014240358 0.028356888222933203381 -0.024199999101464600426" rpy="1.5707963267948958919 -1.0519907928408602782 1.8430678811938712158" />
        <parent link="wheel_3" />
        <child link="roller_33" />
        <axis xyz="0 0 1"/>
        <limit effort="1" velocity="20" />
        <joint_properties friction="0.0"/>
    </joint>

    <link name="roller_34">
        <visual>
            <origin xyz="-1.3877787807814456755e-17 3.4694469519536141888e-18 -1.7347234759768070944e-18" rpy="2.4258078252098803542e-18 1.3064319734432134978e-17 1.547339326721106241e-17" />
            <geometry>
                <mesh filename="package://omnibot_description/urdf/roller.stl"/>
            </geometry>
            <material name="roller_material">
                <color rgba="0.098039215686274508443 0.098039215686274508443 0.098039215686274508443 1.0"/>
            </material>
        </visual>
        <!-- Shapes for roller -->
        <collision>
            <origin xyz="-1.3877787807814456755e-17 3.4694469519536141888e-18 -1.7347234759768070944e-18" rpy="2.4258078252098803542e-18 1.3064319734432134978e-17 1.547339326721106241e-17" />
            <geometry>
                <sphere radius="0.007700000000000000247" />
            </geometry>
        </collision>
        <inertial>
            <origin xyz="4.0756108085076403826e-11 8.4957106663797855839e-11 2.4283847306129179153e-11" rpy="0 0 0"/>
            <mass value="0.0037899803393768708749" />
            <inertia ixx="1.8303635244743854193e-07" ixy="4.2716081667819919579e-16"  ixz="-1.7514569890494251883e-15" iyy="1.830363607521377626e-07" iyz="-3.3429143095769608502e-15" izz="9.80970620806389343e-08" />
        </inertial>
    </link>

    <joint name="roller3_10" type="revolute">
        <origin xyz="-0.028516458158703447689 0.0073218567028480677911 -0.024199999573447900092" rpy="1.5707963267948956698 0.98120498930390487313 2.8902650095731106106" />
        <parent link="wheel_3" />
        <child link="roller_34" />
        <axis xyz="0 0 1"/>
        <limit effort="1" velocity="20" />
        <joint_properties friction="0.0"/>
    </joint>

    <link name="roller_35">
        <visual>
            <origin xyz="-1.3877787807814456755e-17 0 -1.7347234759768070944e-18" rpy="-5.2006409085214947e-17 -4.1488311595070334227e-17 3.430966771816442121e-17" />
            <geometry>
                <mesh filename="package://omnibot_description/urdf/roller.stl"/>
            </geometry>
            <material name="roller_material">
                <color rgba="0.098039215686274508443 0.098039215686274508443 0.098039215686274508443 1.0"/>
            </material>
        </visual>
        <!-- Shapes for roller -->
        <collision>
            <origin xyz="-1.3877787807814456755e-17 0 -1.7347234759768070944e-18" rpy="-5.2006409085214947e-17 -4.1488311595070334227e-17 3.430966771816442121e-17" />
            <geometry>
                <sphere radius="0.007700000000000000247" />
            </geometry>
        </collision>
        <inertial>
            <origin xyz="4.0756108085076410289e-11 8.4957103194350890961e-11 2.4283847306129179153e-11" rpy="0 0 0"/>
            <mass value="0.0037899803393768708749" />
            <inertia ixx="1.8303635244743854193e-07" ixy="4.2716082955247286952e-16"  ixz="-1.7514569771766301553e-15" iyy="1.830363607521377626e-07" iyz="-3.3429143153932035109e-15" izz="9.80970620806389343e-08" />
        </inertial>
    </link>

    <joint name="roller3_11" type="revolute">
        <origin xyz="-0.020599082119812324454 -0.02103506444308805845 -0.024199998418286350343" rpy="1.5707963267948974462 -0.60012852644593328577 0.7958697670360587173" />
        <parent link="wheel_3" />
        <child link="roller_35" />
        <axis xyz="0 0 1"/>
        <limit effort="1" velocity="20" />
        <joint_properties friction="0.0"/>
    </joint>

    <link name="roller_36">
        <visual>
            <origin xyz="6.9388939039072283776e-18 0 -3.4694469519536141888e-18" rpy="-1.1268743259741396852e-17 -1.992414704174456577e-17 3.4691976098257111765e-17" />
            <geometry>
                <mesh filename="package://omnibot_description/urdf/roller.stl"/>
            </geometry>
            <material name="roller_material">
                <color rgba="0.098039215686274508443 0.098039215686274508443 0.098039215686274508443 1.0"/>
            </material>
        </visual>
        <!-- Shapes for roller -->
        <collision>
            <origin xyz="6.9388939039072283776e-18 0 -3.4694469519536141888e-18" rpy="-1.1268743259741396852e-17 -1.992414704174456577e-17 3.4691976098257111765e-17" />
            <geometry>
                <sphere radius="0.007700000000000000247" />
            </geometry>
        </collision>
        <inertial>
            <origin xyz="4.075612890175812201e-11 8.4957103194350903886e-11 2.4283845571405706408e-11" rpy="0 0 0"/>
            <mass value="0.0037899803393768708749" />
            <inertia ixx="1.8303635244743854193e-07" ixy="4.2716082562761070789e-16"  ixz="-1.7514569755248761155e-15" iyy="1.8303636075213781554e-07" iyz="-3.3429143081568459544e-15" izz="9.809706208063898724e-08" />
        </inertial>
    </link>

    <joint name="roller3_12" type="revolute">
        <origin xyz="0.028630754033681760085 0.0073511498047736847233 -0.010000000481623361193" rpy="1.5707963267948976682 0.12996521041089265092 0.25132812119095498948" />
        <parent link="wheel_3" />
        <child link="roller_36" />
        <axis xyz="0 0 1"/>
        <limit effort="1" velocity="20" />
        <joint_properties friction="0.0"/>
    </joint>

    <joint name="wheel3" type="revolute">
        <origin xyz="2.6263408339213767581e-17 0.015229328657860304735 3.0000000000016124879e-05" rpy="3.141592653589793116 -4.3371326877914994301e-16 -2.6462604399390747822" />
        <parent link="motor_3" />
        <child link="wheel_3" />
        <axis xyz="0 0 1"/>
        <limit effort="1" velocity="20" />
        <joint_properties friction="0.0"/>
    </joint>

    <joint name="motor3" type="fixed">
        <origin xyz="-0.072435351823797927695 -0.043144348079105873661 1.2143064331837649661e-17" rpy="-1.570796326794896558 1.578226579417481623e-16 2.1079931297550063007" />
        <parent link="base" />
        <child link="motor_3" />
        <axis xyz="0 0 1"/>
        <limit effort="1" velocity="20" />
        <joint_properties friction="0.0"/>
    </joint>


</robot>
